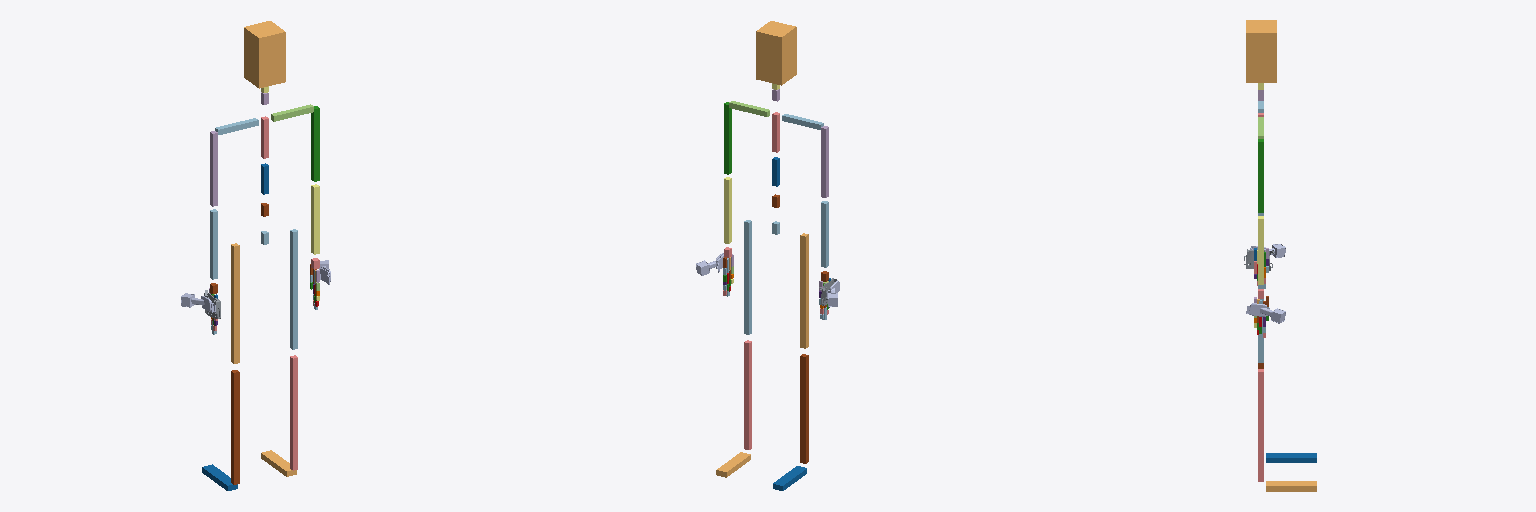
--- What the picture shows (computed from the rendered views, not written in the file) ---
3 views of the same robot in one strip: view 1: azimuth 30°, elevation 25°; view 2: azimuth 150°, elevation 25°; view 3: azimuth 270°, elevation 25° (orthographic).
Robot: converted — 235 links, 234 joints (218 revolute, 16 fixed); root link base_link; default pose: all joints at 0.
Visible links, largest first — view 1: link_Head_Y, link_LeftUpLeg_Y, link_LeftLeg_Y, link_RightUpLeg_Y, link_RightLeg_Y, link_RightArm_Y, link_RightForeArm_Y, link_LeftArm_Y, link_LeftForeArm_Y; view 2: link_Head_Y, link_LeftUpLeg_Y, link_LeftLeg_Y, link_RightUpLeg_Y, link_RightLeg_Y, link_LeftArm_Y, link_RightArm_Y, link_RightForeArm_Y, link_LeftForeArm_Y; view 3: link_Head_Y, link_RightLeg_Y, link_RightFoot_Y.
Link boxes in pixels (bbox=[...]): link_Head_Y: bbox=[244, 21, 285, 88]; link_LeftUpLeg_Y: bbox=[231, 243, 239, 363]; link_LeftLeg_Y: bbox=[231, 370, 239, 484]; link_RightUpLeg_Y: bbox=[290, 229, 297, 349]; link_RightLeg_Y: bbox=[290, 355, 297, 470]; link_RightArm_Y: bbox=[311, 106, 319, 181]; link_RightForeArm_Y: bbox=[311, 184, 319, 254]; link_LeftArm_Y: bbox=[210, 131, 217, 206]; link_LeftForeArm_Y: bbox=[210, 209, 217, 279]; link_Head_Y: bbox=[756, 21, 796, 85]; link_LeftUpLeg_Y: bbox=[800, 233, 808, 348]; link_LeftLeg_Y: bbox=[800, 354, 808, 463]; link_RightUpLeg_Y: bbox=[744, 220, 751, 334]; link_RightLeg_Y: bbox=[744, 340, 751, 449]; link_LeftArm_Y: bbox=[821, 126, 828, 197]; link_RightArm_Y: bbox=[724, 102, 731, 174]; link_RightForeArm_Y: bbox=[724, 177, 731, 243]; link_LeftForeArm_Y: bbox=[821, 201, 828, 267]; link_Head_Y: bbox=[1246, 20, 1276, 82]; link_RightLeg_Y: bbox=[1258, 369, 1263, 481]; link_RightFoot_Y: bbox=[1266, 481, 1316, 491].
Size in the robot's own frame: 0.554 by 0.2402 by 1.63 metres.
Meshes: 44 distinct files referenced, 3 mesh visuals loaded (3 binary STL); not drawn: 41 (reference not matched to a file when rendering).

robot.urdf — converted:
<?xml version='1.0' encoding='utf-8'?>
<robot name="converted">
    
    <link name="base_link" />
    <link name="link_Hips_R" />
    <link name="link_Hips_P" />
    <link name="link_Hips_Y">
        <inertia ixx="1.0" ixy="0.0" ixz="0.0" iyy="1.0" iyz="0.0" izz="1.0" />
        <mass value="5.000000" />
        <visual>
            <origin rpy="0 0 0" xyz="0 0 0" />
            <geometry>
                <box size="0.02 0.02 0.04" />
            </geometry>
            <material name="mat_col_(0.6509803921568628, 0.807843137254902, 0.8901960784313725)">
                <color rgba="0.65 0.81 0.89 1.0" />
            </material>
        </visual>
    </link>
    <link name="link_RightUpLeg_R" />
    <link name="link_RightUpLeg_P" />
    <link name="link_RightUpLeg_Y">
        <inertia ixx="1.0" ixy="0.0" ixz="0.0" iyy="1.0" iyz="0.0" izz="1.0" />
        <mass value="5.000000" />
        <visual>
            <origin rpy="0 0 0" xyz="0 0 -0.21" />
            <geometry>
                <box size="0.02 0.02 0.42" />
            </geometry>
            <material name="mat_col_(0.6509803921568628, 0.807843137254902, 0.8901960784313725)">
                <color rgba="0.65 0.81 0.89 1.0" />
            </material>
        </visual>
    </link>
    <link name="link_RightLeg_R" />
    <link name="link_RightLeg_P" />
    <link name="link_RightLeg_Y">
        <inertia ixx="1.0" ixy="0.0" ixz="0.0" iyy="1.0" iyz="0.0" izz="1.0" />
        <mass value="5.000000" />
        <visual>
            <origin rpy="0 0 0" xyz="0 0 -0.2" />
            <geometry>
                <box size="0.02 0.02 0.4" />
            </geometry>
            <material name="mat_col_(0.984313725490196, 0.6039215686274509, 0.6)">
                <color rgba="0.98 0.60 0.60 1.0" />
            </material>
        </visual>
    </link>
    <link name="link_RightFoot_R" />
    <link name="link_RightFoot_P" />
    <link name="link_RightFoot_Y">
        <inertia ixx="1.0" ixy="0.0" ixz="0.0" iyy="1.0" iyz="0.0" izz="1.0" />
        <mass value="5.000000" />
        <visual>
            <origin rpy="0 0 0" xyz="0 0.0978897124528885 0" />
            <geometry>
                <box size="0.04 0.16677506566047667 0.02" />
            </geometry>
            <material name="mat_col_(0.9921568627450981, 0.7490196078431373, 0.43529411764705883)">
                <color rgba="0.99 0.75 0.44 1.0" />
            </material>
        </visual>
    </link>
    <link name="link_LeftUpLeg_R" />
    <link name="link_LeftUpLeg_P" />
    <link name="link_LeftUpLeg_Y">
        <inertia ixx="1.0" ixy="0.0" ixz="0.0" iyy="1.0" iyz="0.0" izz="1.0" />
        <mass value="5.000000" />
        <visual>
            <origin rpy="0 0 0" xyz="0 0 -0.21" />
            <geometry>
                <box size="0.02 0.02 0.42" />
            </geometry>
            <material name="mat_col_(0.9921568627450981, 0.7490196078431373, 0.43529411764705883)">
                <color rgba="0.99 0.75 0.44 1.0" />
            </material>
        </visual>
    </link>
    <link name="link_LeftLeg_R" />
    <link name="link_LeftLeg_P" />
    <link name="link_LeftLeg_Y">
        <inertia ixx="1.0" ixy="0.0" ixz="0.0" iyy="1.0" iyz="0.0" izz="1.0" />
        <mass value="5.000000" />
        <visual>
            <origin rpy="0 0 0" xyz="0 0 -0.2" />
            <geometry>
                <box size="0.02 0.02 0.4" />
            </geometry>
            <material name="mat_col_(0.6941176470588235, 0.34901960784313724, 0.1568627450980392)">
                <color rgba="0.69 0.35 0.16 1.0" />
            </material>
        </visual>
    </link>
    <link name="link_LeftFoot_R" />
    <link name="link_LeftFoot_P" />
    <link name="link_LeftFoot_Y">
        <inertia ixx="1.0" ixy="0.0" ixz="0.0" iyy="1.0" iyz="0.0" izz="1.0" />
        <mass value="5.000000" />
        <visual>
            <origin rpy="0 0 0" xyz="0 0.0978897124528885 0" />
            <geometry>
                <box size="0.04 0.16677506566047667 0.02" />
            </geometry>
            <material name="mat_col_(0.12156862745098039, 0.47058823529411764, 0.7058823529411765)">
                <color rgba="0.12 0.47 0.71 1.0" />
            </material>
        </visual>
    </link>
    <link name="link_Spine_R" />
    <link name="link_Spine_P" />
    <link name="link_Spine_Y">
        <inertia ixx="1.0" ixy="0.0" ixz="0.0" iyy="1.0" iyz="0.0" izz="1.0" />
        <mass value="5.000000" />
        <visual>
            <origin rpy="0 0 0" xyz="0 0 0.02" />
            <geometry>
                <box size="0.02 0.02 0.04" />
            </geometry>
            <material name="mat_col_(0.6941176470588235, 0.34901960784313724, 0.1568627450980392)">
                <color rgba="0.69 0.35 0.16 1.0" />
            </material>
        </visual>
    </link>
    <link name="link_Spine1_R" />
    <link name="link_Spine1_P" />
    <link name="link_Spine1_Y">
        <inertia ixx="1.0" ixy="0.0" ixz="0.0" iyy="1.0" iyz="0.0" izz="1.0" />
        <mass value="5.000000" />
        <visual>
            <origin rpy="0 0 0" xyz="0 0 0.05" />
            <geometry>
                <box size="0.02 0.02 0.10" />
            </geometry>
            <material name="mat_col_(0.12156862745098039, 0.47058823529411764, 0.7058823529411765)">
                <color rgba="0.12 0.47 0.71 1.0" />
            </material>
        </visual>
    </link>
    <link name="link_Spine2_R" />
    <link name="link_Spine2_P" />
    <link name="link_Spine2_Y">
        <inertia ixx="1.0" ixy="0.0" ixz="0.0" iyy="1.0" iyz="0.0" izz="1.0" />
        <mass value="5.000000" />
        <visual>
            <origin rpy="0 0 0" xyz="0 0 0.07" />
            <geometry>
                <box size="0.02 0.02 0.14" />
            </geometry>
            <material name="mat_col_(0.984313725490196, 0.6039215686274509, 0.6)">
                <color rgba="0.98 0.60 0.60 1.0" />
            </material>
        </visual>
    </link>
    <link name="link_Neck_R" />
    <link name="link_Neck_P" />
    <link name="link_Neck_Y">
        <inertia ixx="1.0" ixy="0.0" ixz="0.0" iyy="1.0" iyz="0.0" izz="1.0" />
        <mass value="5.000000" />
        <visual>
            <origin rpy="0 0 0" xyz="0 0 0.02" />
            <geometry>
                <box size="0.02 0.02 0.04" />
            </geometry>
            <material name="mat_col_(0.792156862745098, 0.6980392156862745, 0.8392156862745098)">
                <color rgba="0.79 0.70 0.84 1.0" />
            </material>
        </visual>
    </link>
    <link name="link_Neck1_R" />
    <link name="link_Neck1_P" />
    <link name="link_Neck1_Y">
        <inertia ixx="1.0" ixy="0.0" ixz="0.0" iyy="1.0" iyz="0.0" izz="1.0" />
        <mass value="5.000000" />
        <visual>
            <origin rpy="0 0 0" xyz="0 0 0.02" />
            <geometry>
                <box size="0.02 0.02 0.04" />
            </geometry>
            <material name="mat_col_(1.0, 1.0, 0.6)">
                <color rgba="1.00 1.00 0.60 1.0" />
            </material>
        </visual>
    </link>
    <link name="link_Head_R" />
    <link name="link_Head_P" />
    <link name="link_Head_Y">
        <inertia ixx="1.0" ixy="0.0" ixz="0.0" iyy="1.0" iyz="0.0" izz="1.0" />
        <mass value="5.000000" />
        <visual>
            <origin rpy="0 0 0" xyz="0 0 0.09" />
            <geometry>
                <box size="0.10 0.10 0.18" />
            </geometry>
            <material name="mat_col_(0.9921568627450981, 0.7490196078431373, 0.43529411764705883)">
                <color rgba="0.99 0.75 0.44 1.0" />
            </material>
        </visual>
    </link>
    <link name="link_RightShoulder_R" />
    <link name="link_RightShoulder_P" />
    <link name="link_RightShoulder_Y">
        <inertia ixx="1.0" ixy="0.0" ixz="0.0" iyy="1.0" iyz="0.0" izz="1.0" />
        <mass value="5.000000" />
        <visual>
            <origin rpy="0 0 0" xyz="0.075 0  0" />
            <geometry>
                <box size="0.15 0.02 0.02" />
            </geometry>
            <material name="mat_col_(0.6980392156862745, 0.8745098039215686, 0.5411764705882353)">
                <color rgba="0.70 0.87 0.54 1.0" />
            </material>
        </visual>
    </link>
    <link name="link_RightArm_R" />
    <link name="link_RightArm_P" />
    <link name="link_RightArm_Y">
        <inertia ixx="1.0" ixy="0.0" ixz="0.0" iyy="1.0" iyz="0.0" izz="1.0" />
        <mass value="5.000000" />
        <visual>
            <origin rpy="0 0 0" xyz="0 0 -0.13" />
            <geometry>
                <box size="0.02 0.02 0.26" />
            </geometry>
            <material name="mat_col_(0.2, 0.6274509803921569, 0.17254901960784313)">
                <color rgba="0.20 0.63 0.17 1.0" />
            </material>
        </visual>
    </link>
    <link name="link_RightForeArm_R" />
    <link name="link_RightForeArm_P" />
    <link name="link_RightForeArm_Y">
        <inertia ixx="1.0" ixy="0.0" ixz="0.0" iyy="1.0" iyz="0.0" izz="1.0" />
        <mass value="5.000000" />
        <visual>
            <origin rpy="0 0 0" xyz="0 0 -0.12" />
            <geometry>
                <box size="0.02 0.02 0.24" />
            </geometry>
            <material name="mat_col_(1.0, 1.0, 0.6)">
                <color rgba="1.00 1.00 0.60 1.0" />
            </material>
        </visual>
    </link>
    <link name="link_RightHand_R" />
    <link name="link_RightHand_P" />
    <link name="link_RightHand_Y">
        <inertia ixx="1.0" ixy="0.0" ixz="0.0" iyy="1.0" iyz="0.0" izz="1.0" />
        <mass value="5.000000" />
        <visual>
            <origin rpy="0 0 0" xyz="0 0 -0.017634012177586554" />
            <geometry>
                <box size="0.02 0.02 0.030043131858110427" />
            </geometry>
            <material name="mat_col_(0.984313725490196, 0.6039215686274509, 0.6)">
                <color rgba="0.98 0.60 0.60 1.0" />
            </material>
        </visual>
    </link>
    <link name="link_RightHandThumb1_R" />
    <link name="link_RightHandThumb1_P" />
    <link name="link_RightHandThumb1_Y">
        <inertia ixx="1.0" ixy="0.0" ixz="0.0" iyy="1.0" iyz="0.0" izz="1.0" />
        <mass value="5.000000" />
        <visual>
            <origin rpy="0 0 0" xyz="0 0 -0.02090881034731865" />
            <geometry>
                <box size="0.01 0.01 0.035622417628765106" />
            </geometry>
            <material name="mat_col_(0.6941176470588235, 0.34901960784313724, 0.1568627450980392)">
                <color rgba="0.69 0.35 0.16 1.0" />
            </material>
        </visual>
    </link>
    <link name="link_RightHandThumb2_R" />
    <link name="link_RightHandThumb2_P" />
    <link name="link_RightHandThumb2_Y">
        <inertia ixx="1.0" ixy="0.0" ixz="0.0" iyy="1.0" iyz="0.0" izz="1.0" />
        <mass value="5.000000" />
        <visual>
            <origin rpy="0 0 0" xyz="0 0 -0.014525998458266258" />
            <geometry>
                <box size="0.01 0.01 0.024747997373342514" />
            </geometry>
            <material name="mat_col_(0.6509803921568628, 0.807843137254902, 0.8901960784313725)">
                <color rgba="0.65 0.81 0.89 1.0" />
            </material>
        </visual>
    </link>
    <link name="link_RightHandThumb3_R" />
    <link name="link_RightHandThumb3_P" />
    <link name="link_RightHandThumb3_Y">
        <inertia ixx="1.0" ixy="0.0" ixz="0.0" iyy="1.0" iyz="0.0" izz="1.0" />
        <mass value="5.000000" />
        <visual>
            <origin rpy="0 0 0" xyz="0 0 -0.013699802979826927" />
            <geometry>
                <box size="0.01 0.01 0.023340405076742173" />
            </geometry>
            <material name="mat_col_(0.2, 0.6274509803921569, 0.17254901960784313)">
                <color rgba="0.20 0.63 0.17 1.0" />
            </material>
        </visual>
    </link>
    <link name="link_RightInHandIndex_R" />
    <link name="link_RightInHandIndex_P" />
    <link name="link_RightInHandIndex_Y">
        <inertia ixx="1.0" ixy="0.0" ixz="0.0" iyy="1.0" iyz="0.0" izz="1.0" />
        <mass value="5.000000" />
        <visual>
            <origin rpy="0 0 0" xyz="0 0 -0.030162290632724763" />
            <geometry>
                <box size="0.01 0.01 0.051387606263160704" />
            </geometry>
            <material name="mat_col_(0.6941176470588235, 0.34901960784313724, 0.1568627450980392)">
                <color rgba="0.69 0.35 0.16 1.0" />
            </material>
        </visual>
    </link>
    <link name="link_RightHandIndex1_R" />
    <link name="link_RightHandIndex1_P" />
    <link name="link_RightHandIndex1_Y">
        <inertia ixx="1.0" ixy="0.0" ixz="0.0" iyy="1.0" iyz="0.0" izz="1.0" />
        <mass value="5.000000" />
        <visual>
            <origin rpy="0 0 0" xyz="0 0 -0.020552407130599023" />
            <geometry>
                <box size="0.01 0.01 0.03501521214842796" />
            </geometry>
            <material name="mat_col_(0.41568627450980394, 0.23921568627450981, 0.6039215686274509)">
                <color rgba="0.42 0.24 0.60 1.0" />
            </material>
        </visual>
    </link>
    <link name="link_RightHandIndex2_R" />
    <link name="link_RightHandIndex2_P" />
    <link name="link_RightHandIndex2_Y">
        <inertia ixx="1.0" ixy="0.0" ixz="0.0" iyy="1.0" iyz="0.0" izz="1.0" />
        <mass value="5.000000" />
        <visual>
            <origin rpy="0 0 0" xyz="0 0 -0.011653190664947032" />
            <geometry>
                <box size="0.01 0.01 0.019853584095835687" />
            </geometry>
            <material name="mat_col_(0.6509803921568628, 0.807843137254902, 0.8901960784313725)">
                <color rgba="0.65 0.81 0.89 1.0" />
            </material>
        </visual>
    </link>
    <link name="link_RightHandIndex3_R" />
    <link name="link_RightHandIndex3_P" />
    <link name="link_RightHandIndex3_Y">
        <inertia ixx="1.0" ixy="0.0" ixz="0.0" iyy="1.0" iyz="0.0" izz="1.0" />
        <mass value="5.000000" />
        <visual>
            <origin rpy="0 0 0" xyz="0 0 -0.010249215178191662" />
            <geometry>
                <box size="0.01 0.01 0.01746162585914135" />
            </geometry>
            <material name="mat_col_(0.984313725490196, 0.6039215686274509, 0.6)">
                <color rgba="0.98 0.60 0.60 1.0" />
            </material>
        </visual>
    </link>
    <link name="link_RightInHandMiddle_R" />
    <link name="link_RightInHandMiddle_P" />
    <link name="link_RightInHandMiddle_Y">
        <inertia ixx="1.0" ixy="0.0" ixz="0.0" iyy="1.0" iyz="0.0" izz="1.0" />
        <mass value="5.000000" />
        <visual>
            <origin rpy="0 0 0" xyz="0 0 -0.02943922273814678" />
            <geometry>
                <box size="0.01 0.01 0.050155712813138964" />
            </geometry>
            <material name="mat_col_(0.6509803921568628, 0.807843137254902, 0.8901960784313725)">
                <color rgba="0.65 0.81 0.89 1.0" />
            </material>
        </visual>
    </link>
    <link name="link_RightHandMiddle1_R" />
    <link name="link_RightHandMiddle1_P" />
    <link name="link_RightHandMiddle1_Y">
        <inertia ixx="1.0" ixy="0.0" ixz="0.0" iyy="1.0" iyz="0.0" izz="1.0" />
        <mass value="5.000000" />
        <visual>
            <origin rpy="0 0 0" xyz="0 0 -0.022426203042268753" />
            <geometry>
                <box size="0.01 0.01 0.03820760518312454" />
            </geometry>
            <material name="mat_col_(0.8901960784313725, 0.10196078431372549, 0.10980392156862745)">
                <color rgba="0.89 0.10 0.11 1.0" />
            </material>
        </visual>
    </link>
    <link name="link_RightHandMiddle2_R" />
    <link name="link_RightHandMiddle2_P" />
    <link name="link_RightHandMiddle2_Y">
        <inertia ixx="1.0" ixy="0.0" ixz="0.0" iyy="1.0" iyz="0.0" izz="1.0" />
        <mass value="5.000000" />
        <visual>
            <origin rpy="0 0 0" xyz="0 0 -0.014056202173233032" />
            <geometry>
                <box size="0.01 0.01 0.023947603702545166" />
            </geometry>
            <material name="mat_col_(0.2, 0.6274509803921569, 0.17254901960784313)">
                <color rgba="0.20 0.63 0.17 1.0" />
            </material>
        </visual>
    </link>
    <link name="link_RightHandMiddle3_R" />
    <link name="link_RightHandMiddle3_P" />
    <link name="link_RightHandMiddle3_Y">
        <inertia ixx="1.0" ixy="0.0" ixz="0.0" iyy="1.0" iyz="0.0" izz="1.0" />
        <mass value="5.000000" />
        <visual>
            <origin rpy="0 0 0" xyz="0 0 -0.011210399866104125" />
            <geometry>
                <box size="0.01 0.01 0.019099199771881105" />
            </geometry>
            <material name="mat_col_(0.6509803921568628, 0.807843137254902, 0.8901960784313725)">
                <color rgba="0.65 0.81 0.89 1.0" />
            </material>
        </visual>
    </link>
    <link name="link_RightInHandRing_R" />
    <link name="link_RightInHandRing_P" />
    <link name="link_RightInHandRing_Y">
        <inertia ixx="1.0" ixy="0.0" ixz="0.0" iyy="1.0" iyz="0.0" izz="1.0" />
        <mass value="5.000000" />
        <visual>
            <origin rpy="0 0 0" xyz="0 0 -0.026454875618219374" />
            <geometry>
                <box size="0.01 0.01 0.04507126957178116" />
            </geometry>
            <material name="mat_col_(0.9921568627450981, 0.7490196078431373, 0.43529411764705883)">
                <color rgba="0.99 0.75 0.44 1.0" />
            </material>
        </visual>
    </link>
    <link name="link_RightHandRing1_R" />
    <link name="link_RightHandRing1_P" />
    <link name="link_RightHandRing1_Y">
        <inertia ixx="1.0" ixy="0.0" ixz="0.0" iyy="1.0" iyz="0.0" izz="1.0" />
        <mass value="5.000000" />
        <visual>
            <origin rpy="0 0 0" xyz="0 0 -0.019542589634656906" />
            <geometry>
                <box size="0.01 0.01 0.03329478234052658" />
            </geometry>
            <material name="mat_col_(0.6941176470588235, 0.34901960784313724, 0.1568627450980392)">
                <color rgba="0.69 0.35 0.16 1.0" />
            </material>
        </visual>
    </link>
    <link name="link_RightHandRing2_R" />
    <link name="link_RightHandRing2_P" />
    <link name="link_RightHandRing2_Y">
        <inertia ixx="1.0" ixy="0.0" ixz="0.0" iyy="1.0" iyz="0.0" izz="1.0" />
        <mass value="5.000000" />
        <visual>
            <origin rpy="0 0 0" xyz="0 0 -0.01355940341949463" />
            <geometry>
                <box size="0.01 0.01 0.023101205825805663" />
            </geometry>
            <material name="mat_col_(0.2, 0.6274509803921569, 0.17254901960784313)">
                <color rgba="0.20 0.63 0.17 1.0" />
            </material>
        </visual>
    </link>
    <link name="link_RightHandRing3_R" />
    <link name="link_RightHandRing3_P" />
    <link name="link_RightHandRing3_Y">
        <inertia ixx="1.0" ixy="0.0" ixz="0.0" iyy="1.0" iyz="0.0" izz="1.0" />
        <mass value="5.000000" />
        <visual>
            <origin rpy="0 0 0" xyz="0 0 -0.010540791749954224" />
            <geometry>
                <box size="0.01 0.01 0.017958385944366453" />
            </geometry>
            <material name="mat_col_(0.8901960784313725, 0.10196078431372549, 0.10980392156862745)">
                <color rgba="0.89 0.10 0.11 1.0" />
            </material>
        </visual>
    </link>
    <link name="link_RightInHandPinky_R" />
    <link name="link_RightInHandPinky_P" />
    <link name="link_RightInHandPinky_Y">
        <inertia ixx="1.0" ixy="0.0" ixz="0.0" iyy="1.0" iyz="0.0" izz="1.0" />
        <mass value="5.000000" />
        <visual>
            <origin rpy="0 0 0" xyz="0 0 -0.024314074516296386" />
            <geometry>
                <box size="0.01 0.01 0.041423978805541994" />
            </geometry>
            <material name="mat_col_(0.792156862745098, 0.6980392156862745, 0.8392156862745098)">
                <color rgba="0.79 0.70 0.84 1.0" />
            </material>
        </visual>
    </link>
    <link name="link_RightHandPinky1_R" />
    <link name="link_RightHandPinky1_P" />
    <link name="link_RightHandPinky1_Y">
        <inertia ixx="1.0" ixy="0.0" ixz="0.0" iyy="1.0" iyz="0.0" izz="1.0" />
        <mass value="5.000000" />
        <visual>
            <origin rpy="0 0 0" xyz="0 0 -0.015649211034178732" />
            <geometry>
                <box size="0.01 0.01 0.026661618798971175" />
            </geometry>
            <material name="mat_col_(0.6980392156862745, 0.8745098039215686, 0.5411764705882353)">
                <color rgba="0.70 0.87 0.54 1.0" />
            </material>
        </visual>
    </link>
    <link name="link_RightHandPinky2_R" />
    <link name="link_RightHandPinky2_P" />
    <link name="link_RightHandPinky2_Y">
        <inertia ixx="1.0" ixy="0.0" ixz="0.0" iyy="1.0" iyz="0.0" izz="1.0" />
        <mass value="5.000000" />
        <visual>
            <origin rpy="0 0 0" xyz="0 0 -0.009887406639754771" />
            <geometry>
                <box size="0.01 0.01 0.0168452113121748" />
            </geometry>
            <material name="mat_col_(1.0, 0.4980392156862745, 0.0)">
                <color rgba="1.00 0.50 0.00 1.0" />
            </material>
        </visual>
    </link>
    <link name="link_RightHandPinky3_R" />
    <link name="link_RightHandPinky3_P" />
    <link name="link_RightHandPinky3_Y">
        <inertia ixx="1.0" ixy="0.0" ixz="0.0" iyy="1.0" iyz="0.0" izz="1.0" />
        <mass value="5.000000" />
        <visual>
            <origin rpy="0 0 0" xyz="0 0 -0.009342006258666515" />
            <geometry>
                <box size="0.01 0.01 0.015916010662913323" />
            </geometry>
            <material name="mat_col_(1.0, 1.0, 0.6)">
                <color rgba="1.00 1.00 0.60 1.0" />
            </material>
        </visual>
    </link>
    
    <link name="link_RightMarker">
        <visual>
        <origin xyz="0 0 0" rpy="0 0 0" />
        <geometry>
            <mesh filename="package://io_mocap/description/meshes/R_markseat.STL" />
        </geometry>
        <material name="">
            <color rgba="0.792156862745098 0.819607843137255 0.933333333333333 1" />
        </material>
        </visual>
        <collision>
        <origin xyz="0 0 0" rpy="0 0 0" />
        <geometry>
            <mesh filename="package://io_mocap/description/meshes/R_markseat.STL" />
        </geometry>
        </collision>
    <inertial>
      <origin xyz="0.00294203633534093 1.0876564371376E-09 -0.00737738070930406" rpy="0 0 0" />
      <mass value="0.0154177032704756" />
      <inertia ixx="5.71644078153603E-06" ixy="-1.51036310359394E-12" ixz="3.68081022115817E-08" iyy="2.68588112925329E-06" iyz="3.37822884683315E-14" izz="8.26174791000107E-06" />
    </inertial>
    </link>
    <link name="link_RightSkeletonBase">
        <visual>
        <origin xyz="0 0 0" rpy="0 0 0" />
        <geometry>
            <mesh filename="package://io_mocap/description/meshes/r_base_link.STL" />
        </geometry>
        <material name="">
            <color rgba="0.866666666666667 0.866666666666667 0.890196078431372 1" />
        </material>
        </visual>
        <collision>
        <origin xyz="0 0 0" rpy="0 0 0" />
        <geometry>
            <mesh filename="package://io_mocap/description/meshes/r_base_link.STL" />
        </geometry>
        </collision>
    <inertial>
      <origin xyz="0.00216797571237468 -0.022366204645948 -0.0107724196092734" rpy="0 0 0" />
      <mass value="0.0758042486131713" />
      <inertia ixx="3.23125693144823E-05" ixy="-1.31540196511596E-05" ixz="-4.94003552692791E-06" iyy="5.16119830038236E-05" iyz="-4.68797910919802E-06" izz="7.78219432147555E-05" />
    </inertial>
    </link>
    <link name="link_RightSkeletonThumb1">
        <visual>
        <origin xyz="0 0 0" rpy="0 0 0" />
        <geometry>
            <mesh filename="package://io_mocap/description/meshes/r_figer1_1.STL" />
        </geometry>
        <material name="">
            <color rgba="0.866666666666667 0.866666666666667 0.890196078431372 1" />
        </material>
        </visual>
        <collision>
        <origin xyz="0 0 0" rpy="0 0 0" />
        <geometry>
            <mesh filename="package://io_mocap/description/meshes/r_figer1_1.STL" />
        </geometry>
        </collision>
    <inertial>
      <origin xyz="-3.08137699575189E-05 0.00155958987698494 0.0046232516867187" rpy="0 0 0" />
      <mass value="0.00178187238326557" />
      <inertia ixx="1.03584311739983E-07" ixy="-5.01361101967607E-10" ixz="-1.21200232189209E-10" iyy="8.49153643127529E-08" iyz="-2.36939083495156E-08" izz="3.91673232386827E-08" />
    </inertial>
    </link>
    <link name="link_RightSkeletonThumb2">
        <visual>
        <origin xyz="0 0 0" rpy="0 0 0" />
        <geometry>
            <mesh filename="package://io_mocap/description/meshes/r_figer1_2.STL" />
        </geometry>
        <material name="">
            <color rgba="0.866666666666667 0.866666666666667 0.890196078431372 1" />
        </material>
        </visual>
        <collision>
        <origin xyz="0 0 0" rpy="0 0 0" />
        <geometry>
            <mesh filename="package://io_mocap/description/meshes/r_figer1_2.STL" />
        </geometry>
        </collision>
    <inertial>
      <origin xyz="-0.0019500541405295 0.011276259608143 0.0266177464261868" rpy="0 0 0" />
      <mass value="0.00637018046657644" />
      <inertia ixx="2.00538384225126E-06" ixy="7.45002633580976E-09" ixz="1.0946743669178E-08" iyy="1.23040434627638E-06" iyz="-8.84996904032171E-07" izz="8.30631590733538E-07" />
    </inertial>
    </link>
    <link name="link_RightSkeletonThumb3">
        <visual>
        <origin xyz="0 0 0" rpy="0 0 0" />
        <geometry>
            <mesh filename="package://io_mocap/description/meshes/r_figer1_3.STL" />
        </geometry>
        <material name="">
            <color rgba="0.866666666666667 0.866666666666667 0.890196078431372 1" />
        </material>
        </visual>
        <collision>
        <origin xyz="0 0 0" rpy="0 0 0" />
        <geometry>
            <mesh filename="package://io_mocap/description/meshes/r_figer1_3.STL" />
        </geometry>
        </collision>
    <inertial>
      <origin xyz="-0.00206695076515113 0.00595466267902331 0.0396191242055763" rpy="0 0 0" />
      <mass value="0.0161754304135971" />
      <inertia ixx="8.01537071097358E-06" ixy="1.14969861774628E-08" ixz="2.95210053758246E-08" iyy="6.71271011825662E-06" iyz="-2.16683563700016E-06" izz="1.45683814017061E-06" />
    </inertial>
    </link>
    <link name="link_RightSkeletonThumb4">
        <visual>
        <origin xyz="0 0 0" rpy="0 0 0" />
        <geometry>
            <mesh filename="package://io_mocap/description/meshes/r_figer1_4.STL" />
        </geometry>
        <material name="">
            <color rgba="0.866666666666667 0.866666666666667 0.890196078431372 1" />
        </material>
        </visual>
        <collision>
        <origin xyz="0 0 0" rpy="0 0 0" />
        <geometry>
            <mesh filename="package://io_mocap/description/meshes/r_figer1_4.STL" />
        </geometry>
        </collision>
    <inertial>
      <origin xyz="-0.00202068463197846 1.57883169038531E-09 -0.00321296829789386" rpy="0 0 0" />
      <mass value="0.00170717954331925" />
      <inertia ixx="3.1071188241451E-08" ixy="1.08851784987063E-13" ixz="-1.57311055199744E-09" iyy="3.05127320732305E-08" iyz="5.51613855937477E-15" izz="3.29729277393096E-08" />
    </inertial>
    </link>
    <link name="link_RightSkeletonIndex1">
        <visual>
        <origin xyz="0 0 0" rpy="0 0 0" />
        <geometry>
            <mesh filename="package://io_mocap/description/meshes/r_figer2_1.STL" />
        </geometry>
        <material name="">
            <color rgba="0.866666666666667 0.866666666666667 0.890196078431372 1" />
        </material>
        </visual>
        <collision>
        <origin xyz="0 0 0" rpy="0 0 0" />
        <geometry>
            <mesh filename="package://io_mocap/description/meshes/r_figer2_1.STL" />
        </geometry>
        </collision>
    <inertial>
      <origin xyz="-3.08137699578659E-05 0.00155958987698486 0.00462325168671867" rpy="0 0 0" />
      <mass value="0.00178187238326556" />
      <inertia ixx="1.03584311739983E-07" ixy="-5.01361101967614E-10" ixz="-1.21200232189246E-10" iyy="8.49153643127528E-08" iyz="-2.36939083495156E-08" izz="3.91673232386827E-08" />
    </inertial>
    </link>
    <link name="link_RightSkeletonIndex2">
        <visual>
        <origin xyz="0 0 0" rpy="0 0 0" />
        <geometry>
            <mesh filename="package://io_mocap/description/meshes/r_figer2_2.STL" />
        </geometry>
        <material name="">
            <color rgba="0.866666666666667 0.866666666666667 0.890196078431372 1" />
        </material>
        </visual>
        <collision>
        <origin xyz="0 0 0" rpy="0 0 0" />
        <geometry>
            <mesh filename="package://io_mocap/description/meshes/r_figer2_2.STL" />
        </geometry>
        </collision>
    <inertial>
      <origin xyz="-0.00195143791803559 0.0149259451735643 0.0306904661223931" rpy="0 0 0" />
      <mass value="0.00736551851481073" />
      <inertia ixx="3.20023827686467E-06" ixy="9.24466025134963E-09" ixz="1.26143115807105E-08" iyy="1.85454238372297E-06" iyz="-1.47246699804249E-06" izz="1.41056096627149E-06" />
    </inertial>
    </link>
    <link name="link_RightSkeletonIndex3">
        <visual>
        <origin xyz="0 0 0" rpy="0 0 0" />
        <geometry>
            <mesh filename="package://io_mocap/description/meshes/r_figer2_3.STL" />
        </geometry>
        <material name="">
            <color rgba="0.866666666666667 0.866666666666667 0.890196078431372 1" />
        </material>
        </visual>
        <collision>
        <origin xyz="0 0 0" rpy="0 0 0" />
        <geometry>
            <mesh filename="package://io_mocap/description/meshes/r_figer2_3.STL" />
        </geometry>
        </collision>
    <inertial>
      <origin xyz="-0.0020669507651517 0.00595466267902342 0.0396191242055763" rpy="0 0 0" />
      <mass value="0.0161754304135971" />
      <inertia ixx="8.01537071097358E-06" ixy="1.14969861774632E-08" ixz="2.95210053758246E-08" iyy="6.71271011825661E-06" iyz="-2.16683563700017E-06" izz="1.45683814017062E-06" />
    </inertial>
    </link>
    <link name="link_RightSkeletonIndex4">
        <visual>
        <origin xyz="0 0 0" rpy="0 0 0" />
        <geometry>
            <mesh filename="package://io_mocap/description/meshes/r_figer2_4.STL" />
        </geometry>
        <material name="">
            <color rgba="0.866666666666667 0.866666666666667 0.890196078431372 1" />
        </material>
        </visual>
        <collision>
        <origin xyz="0 0 0" rpy="0 0 0" />
        <geometry>
            <mesh filename="package://io_mocap/description/meshes/r_figer2_4.STL" />
        </geometry>
        </collision>
    <inertial>
      <origin xyz="-0.0020206853049512 3.52910714540577E-09 -0.00321297101101677" rpy="0 0 0" />
      <mass value="0.00170718109055902" />
      <inertia ixx="3.10712079116187E-08" ixy="1.17506534361458E-13" ixz="-1.57312136216542E-09" iyy="3.0512729352685E-08" iyz="1.28232339776163E-14" izz="3.29729392782309E-08" />
    </inertial>
    </link>
    <link name="link_RightSkeletonMiddle1">
        <visual>
        <origin xyz="0 0 0" rpy="0 0 0" />
        <geometry>
            <mesh filename="package://io_mocap/description/meshes/r_figer3_1.STL" />
        </geometry>
        <material name="">
            <color rgba="0.866666666666667 0.866666666666667 0.890196078431372 1" />
        </material>
        </visual>
        <collision>
        <origin xyz="0 0 0" rpy="0 0 0" />
        <geometry>
            <mesh filename="package://io_mocap/description/meshes/r_figer3_1.STL" />
        </geometry>
        </collision>
    <inertial>
      <origin xyz="-3.08137699578104E-05 0.00155958987698486 0.00462325168671869" rpy="0 0 0" />
      <mass value="0.00178187238326557" />
      <inertia ixx="1.03584311739984E-07" ixy="-5.01361101967615E-10" ixz="-1.21200232189249E-10" iyy="8.49153643127532E-08" iyz="-2.36939083495157E-08" izz="3.91673232386829E-08" />
    </inertial>
    </link>
    <link name="link_RightSkeletonMiddle2">
        <visual>
        <origin xyz="0 0 0" rpy="0 0 0" />
        <geometry>
            <mesh filename="package://io_mocap/description/meshes/r_figer3_2.STL" />
        </geometry>
        <material name="">
            <color rgba="0.615686274509804 0.643137254901961 0.674509803921569 1" />
        </material>
        </visual>
        <collision>
        <origin xyz="0 0 0" rpy="0 0 0" />
        <geometry>
            <mesh filename="package://io_mocap/description/meshes/r_figer3_2.STL" />
        </geometry>
        </collision>
    <inertial>
      <origin xyz="-0.00195143791803562 0.0149259451735643 0.0306904661223931" rpy="0 0 0" />
      <mass value="0.00736551851481074" />
      <inertia ixx="3.20023827686469E-06" ixy="9.24466025134937E-09" ixz="1.26143115807101E-08" iyy="1.85454238372298E-06" iyz="-1.47246699804249E-06" izz="1.4105609662715E-06" />
    </inertial>
    </link>
    <link name="link_RightSkeletonMiddle3">
        <visual>
        <origin xyz="0 0 0" rpy="0 0 0" />
        <geometry>
            <mesh filename="package://io_mocap/description/meshes/r_figer3_3.STL" />
        </geometry>
        <material name="">
            <color rgba="0.866666666666667 0.866666666666667 0.890196078431372 1" />
        </material>
        </visual>
        <collision>
        <origin xyz="0 0 0" rpy="0 0 0" />
        <geometry>
            <mesh filename="package://io_mocap/description/meshes/r_figer3_3.STL" />
        </geometry>
        </collision>
    <inertial>
      <origin xyz="-0.00206695076515162 0.00595466267902344 0.0396191242055763" rpy="0 0 0" />
      <mass value="0.0161754304135971" />
      <inertia ixx="8.0153707109736E-06" ixy="1.14969861774631E-08" ixz="2.95210053758236E-08" iyy="6.71271011825663E-06" iyz="-2.16683563700017E-06" izz="1.45683814017063E-06" />
    </inertial>
    </link>
    <link name="link_RightSkeletonMiddle4">
        <visual>
        <origin xyz="0 0 0" rpy="0 0 0" />
        <geometry>
            <mesh filename="package://io_mocap/description/meshes/r_figer3_4.STL" />
        </geometry>
        <material name="">
            <color rgba="0.615686274509804 0.643137254901961 0.674509803921569 1" />
        </material>
        </visual>
        <collision>
        <origin xyz="0 0 0" rpy="0 0 0" />
        <geometry>
            <mesh filename="package://io_mocap/description/meshes/r_figer3_4.STL" />
        </geometry>
        </collision>
    <inertial>
      <origin xyz="-0.00202068521679841 2.85014659096028E-09 -0.00321297260277745" rpy="0 0 0" />
      <mass value="0.00170718213815508" />
      <inertia ixx="3.10712233986923E-08" ixy="1.23207006127953E-13" ixz="-1.57311258386368E-09" iyy="3.05127263487505E-08" iyz="9.68401293408717E-15" izz="3.29729484420319E-08" />
    </inertial>
    </link>
    <link name="link_RightSkeletonRing1">
        <visual>
        <origin xyz="0 0 0" rpy="0 0 0" />
        <geometry>
            <mesh filename="package://io_mocap/description/meshes/r_figer4_1.STL" />
        </geometry>
        <material name="">
            <color rgba="0.866666666666667 0.866666666666667 0.890196078431372 1" />
        </material>
        </visual>
        <collision>
        <origin xyz="0 0 0" rpy="0 0 0" />
        <geometry>
            <mesh filename="package://io_mocap/description/meshes/r_figer4_1.STL" />
        </geometry>
        </collision>
    <inertial>
      <origin xyz="-3.08137699578659E-05 0.00155958987698483 0.00462325168671868" rpy="0 0 0" />
      <mass value="0.00178187238326556" />
      <inertia ixx="1.03584311739983E-07" ixy="-5.01361101967661E-10" ixz="-1.21200232189231E-10" iyy="8.49153643127528E-08" iyz="-2.36939083495156E-08" izz="3.91673232386826E-08" />
    </inertial>
    </link>
    <link name="link_RightSkeletonRing2">
        <visual>
        <origin xyz="0 0 0" rpy="0 0 0" />
        <geometry>
            <mesh filename="package://io_mocap/description/meshes/r_figer4_2.STL" />
        </geometry>
        <material name="">
            <color rgba="0.615686274509804 0.643137254901961 0.674509803921569 1" />
        </material>
        </visual>
        <collision>
        <origin xyz="0 0 0" rpy="0 0 0" />
        <geometry>
            <mesh filename="package://io_mocap/description/meshes/r_figer4_2.STL" />
        </geometry>
        </collision>
    <inertial>
      <origin xyz="-0.00195143791803568 0.0149259451735643 0.0306904661223932" rpy="0 0 0" />
      <mass value="0.0073655185148107" />
      <inertia ixx="3.20023827686467E-06" ixy="9.24466025134935E-09" ixz="1.26143115807102E-08" iyy="1.85454238372297E-06" iyz="-1.47246699804248E-06" izz="1.41056096627149E-06" />
    </inertial>
    </link>
    <link name="link_RightSkeletonRing3">
        <visual>
        <origin xyz="0 0 0" rpy="0 0 0" />
        <geometry>
            <mesh filename="package://io_mocap/description/meshes/r_figer4_3.STL" />
        </geometry>
        <material name="">
            <color rgba="0.866666666666667 0.866666666666667 0.890196078431372 1" />
        </material>
        </visual>
        <collision>
        <origin xyz="0 0 0" rpy="0 0 0" />
        <geometry>
            <mesh filename="package://io_mocap/description/meshes/r_figer4_3.STL" />
        </geometry>
        </collision>
    <inertial>
      <origin xyz="-0.0020669507651517 0.00595466267902345 0.0396191242055764" rpy="0 0 0" />
      <mass value="0.0161754304135971" />
      <inertia ixx="8.01537071097359E-06" ixy="1.14969861774632E-08" ixz="2.95210053758249E-08" iyy="6.71271011825663E-06" iyz="-2.16683563700017E-06" izz="1.45683814017062E-06" />
    </inertial>
    </link>
    <link name="link_RightSkeletonRing4">
        <visual>
        <origin xyz="0 0 0" rpy="0 0 0" />
        <geometry>
            <mesh filename="package://io_mocap/description/meshes/r_figer4_4.STL" />
        </geometry>
        <material name="">
            <color rgba="0.615686274509804 0.643137254901961 0.674509803921569 1" />
        </material>
        </visual>
        <collision>
        <origin xyz="0 0 0" rpy="0 0 0" />
        <geometry>
            <mesh filename="package://io_mocap/description/meshes/r_figer4_4.STL" />
        </geometry>
        </collision>
    <inertial>
      <origin xyz="-0.00202068521679838 2.85014667422701E-09 -0.00321297260277745" rpy="0 0 0" />
      <mass value="0.00170718213815507" />
      <inertia ixx="3.10712233986923E-08" ixy="1.2320700606364E-13" ixz="-1.57311258386376E-09" iyy="3.05127263487504E-08" iyz="9.68401291305869E-15" izz="3.29729484420317E-08" />
    </inertial>
    </link>
    <link name="link_RightSkeletonPinky1">
        <visual>
        <origin xyz="0 0 0" rpy="0 0 0" />
        <geometry>
            <mesh filename="package://io_mocap/description/meshes/r_figer5_1.STL" />
        </geometry>
        <material name="">
            <color rgba="0.866666666666667 0.866666666666667 0.890196078431372 1" />
        </material>
        </visual>
        <collision>
        <origin xyz="0 0 0" rpy="0 0 0" />
        <geometry>
            <mesh filename="package://io_mocap/description/meshes/r_figer5_1.STL" />
        </geometry>
        </collision>
    <inertial>
      <origin xyz="-3.08137699577826E-05 0.00155958987698486 0.00462325168671867" rpy="0 0 0" />
      <mass value="0.00178187238326556" />
      <inertia ixx="1.03584311739983E-07" ixy="-5.01361101967618E-10" ixz="-1.21200232189254E-10" iyy="8.49153643127528E-08" iyz="-2.36939083495155E-08" izz="3.91673232386827E-08" />
    </inertial>
    </link>
    <link name="link_RightSkeletonPinky2">
        <visual>
        <origin xyz="0 0 0" rpy="0 0 0" />
        <geometry>
            <mesh filename="package://io_mocap/description/meshes/r_figer5_2.STL" />
        </geometry>
        <material name="">
            <color rgba="0.615686274509804 0.643137254901961 0.674509803921569 1" />
        </material>
        </visual>
        <collision>
        <origin xyz="0 0 0" rpy="0 0 0" />
        <geometry>
            <mesh filename="package://io_mocap/description/meshes/r_figer5_2.STL" />
        </geometry>
        </collision>
    <inertial>
      <origin xyz="-0.00195143791803554 0.0149259451735644 0.0306904661223932" rpy="0 0 0" />
      <mass value="0.00736551851481074" />
      <inertia ixx="3.20023827686469E-06" ixy="9.24466025134985E-09" ixz="1.261431158071E-08" iyy="1.85454238372298E-06" iyz="-1.4724669980425E-06" izz="1.4105609662715E-06" />
    </inertial>
    </link>
    <link name="link_RightSkeletonPinky3">
        <visual>
        <origin xyz="0 0 0" rpy="0 0 0" />
        <geometry>
            <mesh filename="package://io_mocap/description/meshes/r_figer5_3.STL" />
        </geometry>
        <material name="">
            <color rgba="0.866666666666667 0.866666666666667 0.890196078431372 1" />
        </material>
        </visual>
        <collision>
        <origin xyz="0 0 0" rpy="0 0 0" />
        <geometry>
            <mesh filename="package://io_mocap/description/meshes/r_figer5_3.STL" />
        </geometry>
        </collision>
    <inertial>
      <origin xyz="-0.00206695076515168 0.00595466267902345 0.0396191242055763" rpy="0 0 0" />
      <mass value="0.0161754304135971" />
      <inertia ixx="8.01537071097362E-06" ixy="1.14969861774657E-08" ixz="2.95210053758295E-08" iyy="6.71271011825663E-06" iyz="-2.16683563700017E-06" izz="1.45683814017063E-06" />
    </inertial>
    </link>
    <link name="link_RightSkeletonPinky4">
        <visual>
        <origin xyz="0 0 0" rpy="0 0 0" />
        <geometry>
            <mesh filename="package://io_mocap/description/meshes/r_figer5_4.STL" />
        </geometry>
        <material name="">
            <color rgba="0.615686274509804 0.643137254901961 0.674509803921569 1" />
        </material>
        </visual>
        <collision>
        <origin xyz="0 0 0" rpy="0 0 0" />
        <geometry>
            <mesh filename="package://io_mocap/description/meshes/r_figer5_4.STL" />
        </geometry>
        </collision>
    <inertial>
      <origin xyz="-0.00202068500082991 2.01219871320824E-09 -0.00321297182351059" rpy="0 0 0" />
      <mass value="0.00170718152438983" />
      <inertia ixx="3.10712154072883E-08" ixy="1.19566665025053E-13" ixz="-1.57310753561126E-09" iyy="3.05127270354256E-08" iyz="7.47749212603186E-15" izz="3.29729436279812E-08" />
    </inertial>
    </link>
    <link name="link_LeftShoulder_R" />
    <link name="link_LeftShoulder_P" />
    <link name="link_LeftShoulder_Y">
        <inertia ixx="1.0" ixy="0.0" ixz="0.0" iyy="1.0" iyz="0.0" izz="1.0" />
        <mass value="5.000000" />
        <visual>
            <origin rpy="0 0 0" xyz="-0.075 0 0" />
            <geometry>
                <box size="0.15 0.02 0.02" />
            </geometry>
            <material name="mat_col_(0.6509803921568628, 0.807843137254902, 0.8901960784313725)">
                <color rgba="0.65 0.81 0.89 1.0" />
            </material>
        </visual>
    </link>
    <link name="link_LeftArm_R" />
    <link name="link_LeftArm_P" />
    <link name="link_LeftArm_Y">
        <inertia ixx="1.0" ixy="0.0" ixz="0.0" iyy="1.0" iyz="0.0" izz="1.0" />
        <mass value="5.000000" />
        <visual>
            <origin rpy="0 0 0" xyz="0 0 -0.13" />
            <geometry>
                <box size="0.02 0.02 0.26" />
            </geometry>
            <material name="mat_col_(0.792156862745098, 0.6980392156862745, 0.8392156862745098)">
                <color rgba="0.79 0.70 0.84 1.0" />
            </material>
        </visual>
    </link>
    <link name="link_LeftForeArm_R" />
    <link name="link_LeftForeArm_P" />
    <link name="link_LeftForeArm_Y">
        <inertia ixx="1.0" ixy="0.0" ixz="0.0" iyy="1.0" iyz="0.0" izz="1.0" />
        <mass value="5.000000" />
        <visual>
            <origin rpy="0 0 0" xyz="0 0 -0.12" />
            <geometry>
                <box size="0.02 0.02 0.24" />
            </geometry>
            <material name="mat_col_(0.6509803921568628, 0.807843137254902, 0.8901960784313725)">
                <color rgba="0.65 0.81 0.89 1.0" />
            </material>
        </visual>
    </link>
    <link name="link_LeftHand_R" />
    <link name="link_LeftHand_P" />
    <link name="link_LeftHand_Y">
        <inertia ixx="1.0" ixy="0.0" ixz="0.0" iyy="1.0" iyz="0.0" izz="1.0" />
        <mass value="5.000000" />
        <visual>
            <origin rpy="0 0 0" xyz="0 0 -0.017634012177586554" />
            <geometry>
                <box size="0.02 0.02 0.030043131858110427" />
            </geometry>
            <material name="mat_col_(0.6941176470588235, 0.34901960784313724, 0.1568627450980392)">
                <color rgba="0.69 0.35 0.16 1.0" />
            </material>
        </visual>
    </link>
    <link name="link_LeftHandThumb1_R" />
    <link name="link_LeftHandThumb1_P" />
    <link name="link_LeftHandThumb1_Y">
        <inertia ixx="1.0" ixy="0.0" ixz="0.0" iyy="1.0" iyz="0.0" izz="1.0" />
        <mass value="5.000000" />
        <visual>
            <origin rpy="0 0 0" xyz="0 0 -0.02090881034731865" />
            <geometry>
                <box size="0.01 0.01 0.035622417628765106" />
            </geometry>
            <material name="mat_col_(0.792156862745098, 0.6980392156862745, 0.8392156862745098)">
                <color rgba="0.79 0.70 0.84 1.0" />
            </material>
        </visual>
    </link>
    <link name="link_LeftHandThumb2_R" />
    <link name="link_LeftHandThumb2_P" />
    <link name="link_LeftHandThumb2_Y">
        <inertia ixx="1.0" ixy="0.0" ixz="0.0" iyy="1.0" iyz="0.0" izz="1.0" />
        <mass value="5.000000" />
        <visual>
            <origin rpy="0 0 0" xyz="0 0 -0.014525998458266258" />
            <geometry>
                <box size="0.01 0.01 0.024747997373342514" />
            </geometry>
            <material name="mat_col_(0.41568627450980394, 0.23921568627450981, 0.6039215686274509)">
                <color rgba="0.42 0.24 0.60 1.0" />
            </material>
        </visual>
    </link>
    <link name="link_LeftHandThumb3_R" />
    <link name="link_LeftHandThumb3_P" />
    <link name="link_LeftHandThumb3_Y">
        <inertia ixx="1.0" ixy="0.0" ixz="0.0" iyy="1.0" iyz="0.0" izz="1.0" />
        <mass value="5.000000" />
        <visual>
            <origin rpy="0 0 0" xyz="0 0 -0.013699802979826927" />
            <geometry>
                <box size="0.01 0.01 0.023340405076742173" />
            </geometry>
            <material name="mat_col_(0.6509803921568628, 0.807843137254902, 0.8901960784313725)">
                <color rgba="0.65 0.81 0.89 1.0" />
            </material>
        </visual>
    </link>
    <link name="link_LeftInHandIndex_R" />
    <link name="link_LeftInHandIndex_P" />
    <link name="link_LeftInHandIndex_Y">
        <inertia ixx="1.0" ixy="0.0" ixz="0.0" iyy="1.0" iyz="0.0" izz="1.0" />
        <mass value="5.000000" />
        <visual>
            <origin rpy="0 0 0" xyz="0 0 -0.030162290632724763" />
            <geometry>
                <box size="0.01 0.01 0.051387606263160704" />
            </geometry>
            <material name="mat_col_(0.2, 0.6274509803921569, 0.17254901960784313)">
                <color rgba="0.20 0.63 0.17 1.0" />
            </material>
        </visual>
    </link>
    <link name="link_LeftHandIndex1_R" />
    <link name="link_LeftHandIndex1_P" />
    <link name="link_LeftHandIndex1_Y">
        <inertia ixx="1.0" ixy="0.0" ixz="0.0" iyy="1.0" iyz="0.0" izz="1.0" />
        <mass value="5.000000" />
        <visual>
            <origin rpy="0 0 0" xyz="0 0 -0.020552407130599023" />
            <geometry>
                <box size="0.01 0.01 0.03501521214842796" />
            </geometry>
            <material name="mat_col_(1.0, 0.4980392156862745, 0.0)">
                <color rgba="1.00 0.50 0.00 1.0" />
            </material>
        </visual>
    </link>
    <link name="link_LeftHandIndex2_R" />
    <link name="link_LeftHandIndex2_P" />
    <link name="link_LeftHandIndex2_Y">
        <inertia ixx="1.0" ixy="0.0" ixz="0.0" iyy="1.0" iyz="0.0" izz="1.0" />
        <mass value="5.000000" />
        <visual>
            <origin rpy="0 0 0" xyz="0 0 -0.011653190664947032" />
            <geometry>
                <box size="0.01 0.01 0.019853584095835687" />
            </geometry>
            <material name="mat_col_(0.984313725490196, 0.6039215686274509, 0.6)">
                <color rgba="0.98 0.60 0.60 1.0" />
            </material>
        </visual>
    </link>
    <link name="link_LeftHandIndex3_R" />
    <link name="link_LeftHandIndex3_P" />
    <link name="link_LeftHandIndex3_Y">
        <inertia ixx="1.0" ixy="0.0" ixz="0.0" iyy="1.0" iyz="0.0" izz="1.0" />
        <mass value="5.000000" />
        <visual>
            <origin rpy="0 0 0" xyz="0 0 -0.010249215178191662" />
            <geometry>
                <box size="0.01 0.01 0.01746162585914135" />
            </geometry>
            <material name="mat_col_(0.6509803921568628, 0.807843137254902, 0.8901960784313725)">
                <color rgba="0.65 0.81 0.89 1.0" />
            </material>
        </visual>
    </link>
    <link name="link_LeftInHandMiddle_R" />
    <link name="link_LeftInHandMiddle_P" />
    <link name="link_LeftInHandMiddle_Y">
        <inertia ixx="1.0" ixy="0.0" ixz="0.0" iyy="1.0" iyz="0.0" izz="1.0" />
        <mass value="5.000000" />
        <visual>
            <origin rpy="0 0 0" xyz="0 0 -0.02943922273814678" />
            <geometry>
                <box size="0.01 0.01 0.050155712813138964" />
            </geometry>
            <material name="mat_col_(0.6980392156862745, 0.8745098039215686, 0.5411764705882353)">
                <color rgba="0.70 0.87 0.54 1.0" />
            </material>
        </visual>
    </link>
    <link name="link_LeftHandMiddle1_R" />
    <link name="link_LeftHandMiddle1_P" />
    <link name="link_LeftHandMiddle1_Y">
        <inertia ixx="1.0" ixy="0.0" ixz="0.0" iyy="1.0" iyz="0.0" izz="1.0" />
        <mass value="5.000000" />
        <visual>
            <origin rpy="0 0 0" xyz="0 0 -0.022426203042268753" />
            <geometry>
                <box size="0.01 0.01 0.03820760518312454" />
            </geometry>
            <material name="mat_col_(0.6941176470588235, 0.34901960784313724, 0.1568627450980392)">
                <color rgba="0.69 0.35 0.16 1.0" />
            </material>
        </visual>
    </link>
    <link name="link_LeftHandMiddle2_R" />
    <link name="link_LeftHandMiddle2_P" />
    <link name="link_LeftHandMiddle2_Y">
        <inertia ixx="1.0" ixy="0.0" ixz="0.0" iyy="1.0" iyz="0.0" izz="1.0" />
        <mass value="5.000000" />
        <visual>
            <origin rpy="0 0 0" xyz="0 0 -0.014056202173233032" />
            <geometry>
                <box size="0.01 0.01 0.023947603702545166" />
            </geometry>
            <material name="mat_col_(0.6509803921568628, 0.807843137254902, 0.8901960784313725)">
                <color rgba="0.65 0.81 0.89 1.0" />
            </material>
        </visual>
    </link>
    <link name="link_LeftHandMiddle3_R" />
    <link name="link_LeftHandMiddle3_P" />
    <link name="link_LeftHandMiddle3_Y">
        <inertia ixx="1.0" ixy="0.0" ixz="0.0" iyy="1.0" iyz="0.0" izz="1.0" />
        <mass value="5.000000" />
        <visual>
            <origin rpy="0 0 0" xyz="0 0 -0.011210399866104125" />
            <geometry>
                <box size="0.01 0.01 0.019099199771881105" />
            </geometry>
            <material name="mat_col_(0.6509803921568628, 0.807843137254902, 0.8901960784313725)">
                <color rgba="0.65 0.81 0.89 1.0" />
            </material>
        </visual>
    </link>
    <link name="link_LeftInHandRing_R" />
    <link name="link_LeftInHandRing_P" />
    <link name="link_LeftInHandRing_Y">
        <inertia ixx="1.0" ixy="0.0" ixz="0.0" iyy="1.0" iyz="0.0" izz="1.0" />
        <mass value="5.000000" />
        <visual>
            <origin rpy="0 0 0" xyz="0 0 -0.026454875618219374" />
            <geometry>
                <box size="0.01 0.01 0.04507126957178116" />
            </geometry>
            <material name="mat_col_(1.0, 1.0, 0.6)">
                <color rgba="1.00 1.00 0.60 1.0" />
            </material>
        </visual>
    </link>
    <link name="link_LeftHandRing1_R" />
    <link name="link_LeftHandRing1_P" />
    <link name="link_LeftHandRing1_Y">
        <inertia ixx="1.0" ixy="0.0" ixz="0.0" iyy="1.0" iyz="0.0" izz="1.0" />
        <mass value="5.000000" />
        <visual>
            <origin rpy="0 0 0" xyz="0 0 -0.019542589634656906" />
            <geometry>
                <box size="0.01 0.01 0.03329478234052658" />
            </geometry>
            <material name="mat_col_(0.8901960784313725, 0.10196078431372549, 0.10980392156862745)">
                <color rgba="0.89 0.10 0.11 1.0" />
            </material>
        </visual>
    </link>
    <link name="link_LeftHandRing2_R" />
    <link name="link_LeftHandRing2_P" />
    <link name="link_LeftHandRing2_Y">
        <inertia ixx="1.0" ixy="0.0" ixz="0.0" iyy="1.0" iyz="0.0" izz="1.0" />
        <mass value="5.000000" />
        <visual>
            <origin rpy="0 0 0" xyz="0 0 -0.01355940341949463" />
            <geometry>
                <box size="0.01 0.01 0.023101205825805663" />
            </geometry>
            <material name="mat_col_(0.2, 0.6274509803921569, 0.17254901960784313)">
                <color rgba="0.20 0.63 0.17 1.0" />
            </material>
        </visual>
    </link>
    <link name="link_LeftHandRing3_R" />
    <link name="link_LeftHandRing3_P" />
    <link name="link_LeftHandRing3_Y">
        <inertia ixx="1.0" ixy="0.0" ixz="0.0" iyy="1.0" iyz="0.0" izz="1.0" />
        <mass value="5.000000" />
        <visual>
            <origin rpy="0 0 0" xyz="0 0 -0.010540791749954224" />
            <geometry>
                <box size="0.01 0.01 0.017958385944366453" />
            </geometry>
            <material name="mat_col_(0.984313725490196, 0.6039215686274509, 0.6)">
                <color rgba="0.98 0.60 0.60 1.0" />
            </material>
        </visual>
    </link>
    <link name="link_LeftInHandPinky_R" />
    <link name="link_LeftInHandPinky_P" />
    <link name="link_LeftInHandPinky_Y">
        <inertia ixx="1.0" ixy="0.0" ixz="0.0" iyy="1.0" iyz="0.0" izz="1.0" />
        <mass value="5.000000" />
        <visual>
            <origin rpy="0 0 0" xyz="0 0 -0.024314074516296386" />
            <geometry>
                <box size="0.01 0.01 0.041423978805541994" />
            </geometry>
            <material name="mat_col_(0.12156862745098039, 0.47058823529411764, 0.7058823529411765)">
                <color rgba="0.12 0.47 0.71 1.0" />
            </material>
        </visual>
    </link>
    <link name="link_LeftHandPinky1_R" />
    <link name="link_LeftHandPinky1_P" />
    <link name="link_LeftHandPinky1_Y">
        <inertia ixx="1.0" ixy="0.0" ixz="0.0" iyy="1.0" iyz="0.0" izz="1.0" />
        <mass value="5.000000" />
        <visual>
            <origin rpy="0 0 0" xyz="0 0 -0.015649211034178732" />
            <geometry>
                <box size="0.01 0.01 0.026661618798971175" />
            </geometry>
            <material name="mat_col_(0.984313725490196, 0.6039215686274509, 0.6)">
                <color rgba="0.98 0.60 0.60 1.0" />
            </material>
        </visual>
    </link>
    <link name="link_LeftHandPinky2_R" />
    <link name="link_LeftHandPinky2_P" />
    <link name="link_LeftHandPinky2_Y">
        <inertia ixx="1.0" ixy="0.0" ixz="0.0" iyy="1.0" iyz="0.0" izz="1.0" />
        <mass value="5.000000" />
        <visual>
            <origin rpy="0 0 0" xyz="0 0 -0.009887406639754771" />
            <geometry>
                <box size="0.01 0.01 0.0168452113121748" />
            </geometry>
            <material name="mat_col_(0.984313725490196, 0.6039215686274509, 0.6)">
                <color rgba="0.98 0.60 0.60 1.0" />
            </material>
        </visual>
    </link>
    <link name="link_LeftHandPinky3_R" />
    <link name="link_LeftHandPinky3_P" />
    <link name="link_LeftHandPinky3_Y">
        <inertia ixx="1.0" ixy="0.0" ixz="0.0" iyy="1.0" iyz="0.0" izz="1.0" />
        <mass value="5.000000" />
        <visual>
            <origin rpy="0 0 0" xyz="0 0 -0.009342006258666515" />
            <geometry>
                <box size="0.01 0.01 0.015916010662913323" />
            </geometry>
            <material name="mat_col_(0.41568627450980394, 0.23921568627450981, 0.6039215686274509)">
                <color rgba="0.42 0.24 0.60 1.0" />
            </material>
        </visual>
    </link>
    
    <link name="link_LeftMarker">
        <visual>
        <origin xyz="0 0 0" rpy="0 0 0" />
        <geometry>
            <mesh filename="package://io_mocap/description/meshes/L_markseat.STL" />
        </geometry>
        <material name="">
            <color rgba="0.792156862745098 0.819607843137255 0.933333333333333 1" />
        </material>
        </visual>
        <collision>
        <origin xyz="0 0 0" rpy="0 0 0" />
        <geometry>
            <mesh filename="package://io_mocap/description/meshes/L_markseat.STL" />
        </geometry>
        </collision>
    <inertial>
      <origin xyz="0.00294203633534093 1.08765645101538E-09 -0.00737738070930407" rpy="0 0 0" />
      <mass value="0.0154177032704756" />
      <inertia ixx="5.71644078153582E-06" ixy="-1.51036310317042E-12" ixz="3.68081022115822E-08" iyy="2.68588112925339E-06" iyz="3.37822886037129E-14" izz="8.26174791000096E-06" />
    </inertial>
    </link>
    <link name="link_LeftSkeletonBase">
        <visual>
        <origin xyz="0 0 0" rpy="0 0 0" />
        <geometry>
            <mesh filename="package://io_mocap/description/meshes/L_base_link.STL" />
        </geometry>
        <material name="">
            <color rgba="0.615686274509804 0.643137254901961 0.674509803921569 1" />
        </material>
        </visual>
        <collision>
        <origin xyz="0 0 0" rpy="0 0 0" />
        <geometry>
            <mesh filename="package://io_mocap/description/meshes/L_base_link.STL" />
        </geometry>
        </collision>
    <inertial>
      <origin xyz="-0.00216860485181531 -0.0223662449192669 -0.0107723517317311" rpy="0 0 0" />
      <mass value="0.0758070821137531" />
      <inertia ixx="3.23129351252927E-05" ixy="1.31540512277212E-05" ixz="4.93984128861949E-06" iyy="5.16131851464025E-05" iyz="-4.6880338172161E-06" izz="7.78231205506102E-05" />
    </inertial>
    </link>
    <link name="link_LeftSkeletonThumb1">
        <visual>
        <origin xyz="0 0 0" rpy="0 0 0" />
        <geometry>
            <mesh filename="package://io_mocap/description/meshes/L_figer_1_1.STL" />
        </geometry>
        <material name="">
            <color rgba="0.866666666666667 0.866666666666667 0.890196078431372 1" />
        </material>
        </visual>
        <collision>
        <origin xyz="0 0 0" rpy="0 0 0" />
        <geometry>
            <mesh filename="package://io_mocap/description/meshes/L_figer_1_1.STL" />
        </geometry>
        </collision>
    <inertial>
      <origin xyz="-3.08137699578589E-05 0.00155958987698486 0.00462325168671868" rpy="0 0 0" />
      <mass value="0.00178187238326557" />
      <inertia ixx="1.03584311739983E-07" ixy="-5.01361101967613E-10" ixz="-1.21200232189219E-10" iyy="8.49153643127529E-08" iyz="-2.36939083495156E-08" izz="3.91673232386827E-08" />
    </inertial>
    </link>
    <link name="link_LeftSkeletonThumb2">
        <visual>
        <origin xyz="0 0 0" rpy="0 0 0" />
        <geometry>
            <mesh filename="package://io_mocap/description/meshes/L_figer_1_2.STL" />
        </geometry>
        <material name="">
            <color rgba="0.866666666666667 0.866666666666667 0.890196078431372 1" />
        </material>
        </visual>
        <collision>
        <origin xyz="0 0 0" rpy="0 0 0" />
        <geometry>
            <mesh filename="package://io_mocap/description/meshes/L_figer_1_2.STL" />
        </geometry>
        </collision>
    <inertial>
      <origin xyz="-0.00195005414053002 0.011276259608143 0.0266177464261868" rpy="0 0 0" />
      <mass value="0.00637018046657643" />
      <inertia ixx="2.00538384225126E-06" ixy="7.45002633580953E-09" ixz="1.09467436691777E-08" iyy="1.23040434627638E-06" iyz="-8.8499690403217E-07" izz="8.30631590733539E-07" />
    </inertial>
    </link>
    <link name="link_LeftSkeletonThumb3">
        <visual>
        <origin xyz="0 0 0" rpy="0 0 0" />
        <geometry>
            <mesh filename="package://io_mocap/description/meshes/L_figer_1_3.STL" />
        </geometry>
        <material name="">
            <color rgba="0.866666666666667 0.866666666666667 0.890196078431372 1" />
        </material>
        </visual>
        <collision>
        <origin xyz="0 0 0" rpy="0 0 0" />
        <geometry>
            <mesh filename="package://io_mocap/description/meshes/L_figer_1_3.STL" />
        </geometry>
        </collision>
    <inertial>
      <origin xyz="-0.00206695076515167 0.00595466267902342 0.0396191242055762" rpy="0 0 0" />
      <mass value="0.0161754304135971" />
      <inertia ixx="8.01537071097359E-06" ixy="1.14969861774624E-08" ixz="2.95210053758217E-08" iyy="6.71271011825662E-06" iyz="-2.16683563700016E-06" izz="1.45683814017062E-06" />
    </inertial>
    </link>
    <link name="link_LeftSkeletonThumb4">
        <visual>
        <origin xyz="0 0 0" rpy="0 0 0" />
        <geometry>
            <mesh filename="package://io_mocap/description/meshes/L_figer_1_4.STL" />
        </geometry>
        <material name="">
            <color rgba="0.866666666666667 0.866666666666667 0.890196078431372 1" />
        </material>
        </visual>
        <collision>
        <origin xyz="0 0 0" rpy="0 0 0" />
        <geometry>
            <mesh filename="package://io_mocap/description/meshes/L_figer_1_4.STL" />
        </geometry>
        </collision>
    <inertial>
      <origin xyz="-0.00202068525817356 2.58103613481886E-09 -0.0032129684560357" rpy="0 0 0" />
      <mass value="0.00170717964716617" />
      <inertia ixx="3.10711883007281E-08" ixy="1.09894026728083E-13" ixz="-1.57311964794518E-09" iyy="3.05127327906939E-08" iyz="9.36170770726671E-15" izz="3.29729278862014E-08" />
    </inertial>
    </link>
    <link name="link_LeftSkeletonIndex1">
        <visual>
        <origin xyz="0 0 0" rpy="0 0 0" />
        <geometry>
            <mesh filename="package://io_mocap/description/meshes/L_figer_2_1.STL" />
        </geometry>
        <material name="">
            <color rgba="0.866666666666667 0.866666666666667 0.890196078431372 1" />
        </material>
        </visual>
        <collision>
        <origin xyz="0 0 0" rpy="0 0 0" />
        <geometry>
            <mesh filename="package://io_mocap/description/meshes/L_figer_2_1.STL" />
        </geometry>
        </collision>
    <inertial>
      <origin xyz="-3.0813769957852E-05 0.00155958987698486 0.00462325168671868" rpy="0 0 0" />
      <mass value="0.00178187238326557" />
      <inertia ixx="1.03584311739983E-07" ixy="-5.0136110196762E-10" ixz="-1.21200232189225E-10" iyy="8.4915364312753E-08" iyz="-2.36939083495156E-08" izz="3.91673232386828E-08" />
    </inertial>
    </link>
    <link name="link_LeftSkeletonIndex2">
        <visual>
        <origin xyz="0 0 0" rpy="0 0 0" />
        <geometry>
            <mesh filename="package://io_mocap/description/meshes/L_figer_2_2.STL" />
        </geometry>
        <material name="">
            <color rgba="0.866666666666667 0.866666666666667 0.890196078431372 1" />
        </material>
        </visual>
        <collision>
        <origin xyz="0 0 0" rpy="0 0 0" />
        <geometry>
            <mesh filename="package://io_mocap/description/meshes/L_figer_2_2.STL" />
        </geometry>
        </collision>
    <inertial>
      <origin xyz="-0.00195143791803558 0.0149259451735643 0.0306904661223931" rpy="0 0 0" />
      <mass value="0.00736551851481073" />
      <inertia ixx="3.20023827686468E-06" ixy="9.24466025135016E-09" ixz="1.26143115807106E-08" iyy="1.85454238372298E-06" iyz="-1.47246699804249E-06" izz="1.4105609662715E-06" />
    </inertial>
    </link>
    <link name="link_LeftSkeletonIndex3">
        <visual>
        <origin xyz="0 0 0" rpy="0 0 0" />
        <geometry>
            <mesh filename="package://io_mocap/description/meshes/L_figer_2_3.STL" />
        </geometry>
        <material name="">
            <color rgba="0.866666666666667 0.866666666666667 0.890196078431372 1" />
        </material>
        </visual>
        <collision>
        <origin xyz="0 0 0" rpy="0 0 0" />
        <geometry>
            <mesh filename="package://io_mocap/description/meshes/L_figer_2_3.STL" />
        </geometry>
        </collision>
    <inertial>
      <origin xyz="-0.00206695076515168 0.00595466267902341 0.0396191242055763" rpy="0 0 0" />
      <mass value="0.0161754304135971" />
      <inertia ixx="8.01537071097358E-06" ixy="1.14969861774638E-08" ixz="2.95210053758246E-08" iyy="6.71271011825662E-06" iyz="-2.16683563700016E-06" izz="1.45683814017062E-06" />
    </inertial>
    </link>
    <link name="link_LeftSkeletonIndex4">
        <visual>
        <origin xyz="0 0 0" rpy="0 0 0" />
        <geometry>
            <mesh filename="package://io_mocap/description/meshes/L_figer_2_4.STL" />
        </geometry>
        <material name="">
            <color rgba="0.866666666666667 0.866666666666667 0.890196078431372 1" />
        </material>
        </visual>
        <collision>
        <origin xyz="0 0 0" rpy="0 0 0" />
        <geometry>
            <mesh filename="package://io_mocap/description/meshes/L_figer_2_4.STL" />
        </geometry>
        </collision>
    <inertial>
      <origin xyz="-0.00202068473372964 1.72533787257123E-09 -0.00321297112731497" rpy="0 0 0" />
      <mass value="0.0017071810643739" />
      <inertia ixx="3.10712094574922E-08" ixy="1.16914961138646E-13" ixz="-1.57310530138498E-09" iyy="3.05127276007408E-08" iyz="7.01459276360167E-15" izz="3.2972939723945E-08" />
    </inertial>
    </link>
    <link name="link_LeftSkeletonMiddle1">
        <visual>
        <origin xyz="0 0 0" rpy="0 0 0" />
        <geometry>
            <mesh filename="package://io_mocap/description/meshes/L_figer_3_1.STL" />
        </geometry>
        <material name="">
            <color rgba="0.866666666666667 0.866666666666667 0.890196078431372 1" />
        </material>
        </visual>
        <collision>
        <origin xyz="0 0 0" rpy="0 0 0" />
        <geometry>
            <mesh filename="package://io_mocap/description/meshes/L_figer_3_1.STL" />
        </geometry>
        </collision>
    <inertial>
      <origin xyz="-3.08137699578451E-05 0.00155958987698486 0.00462325168671869" rpy="0 0 0" />
      <mass value="0.00178187238326557" />
      <inertia ixx="1.03584311739983E-07" ixy="-5.01361101967617E-10" ixz="-1.21200232189227E-10" iyy="8.4915364312753E-08" iyz="-2.36939083495157E-08" izz="3.91673232386828E-08" />
    </inertial>
    </link>
    <link name="link_LeftSkeletonMiddle2">
        <visual>
        <origin xyz="0 0 0" rpy="0 0 0" />
        <geometry>
            <mesh filename="package://io_mocap/description/meshes/L_figer_3_2.STL" />
        </geometry>
        <material name="">
            <color rgba="0.866666666666667 0.866666666666667 0.890196078431372 1" />
        </material>
        </visual>
        <collision>
        <origin xyz="0 0 0" rpy="0 0 0" />
        <geometry>
            <mesh filename="package://io_mocap/description/meshes/L_figer_3_2.STL" />
        </geometry>
        </collision>
    <inertial>
      <origin xyz="-0.00195143791803559 0.0149259451735643 0.0306904661223931" rpy="0 0 0" />
      <mass value="0.00736551851481073" />
      <inertia ixx="3.20023827686468E-06" ixy="9.24466025135031E-09" ixz="1.26143115807111E-08" iyy="1.85454238372298E-06" iyz="-1.47246699804249E-06" izz="1.4105609662715E-06" />
    </inertial>
    </link>
    <link name="link_LeftSkeletonMiddle3">
        <visual>
        <origin xyz="0 0 0" rpy="0 0 0" />
        <geometry>
            <mesh filename="package://io_mocap/description/meshes/L_figer_3_3.STL" />
        </geometry>
        <material name="">
            <color rgba="0.866666666666667 0.866666666666667 0.890196078431372 1" />
        </material>
        </visual>
        <collision>
        <origin xyz="0 0 0" rpy="0 0 0" />
        <geometry>
            <mesh filename="package://io_mocap/description/meshes/L_figer_3_3.STL" />
        </geometry>
        </collision>
    <inertial>
      <origin xyz="-0.00206695076515167 0.0059546626790234 0.0396191242055762" rpy="0 0 0" />
      <mass value="0.0161754304135971" />
      <inertia ixx="8.01537071097357E-06" ixy="1.14969861774628E-08" ixz="2.95210053758243E-08" iyy="6.71271011825661E-06" iyz="-2.16683563700016E-06" izz="1.45683814017061E-06" />
    </inertial>
    </link>
    <link name="link_LeftSkeletonMiddle4">
        <visual>
        <origin xyz="0 0 0" rpy="0 0 0" />
        <geometry>
            <mesh filename="package://io_mocap/description/meshes/L_figer_3_4.STL" />
        </geometry>
        <material name="">
            <color rgba="0.866666666666667 0.866666666666667 0.890196078431372 1" />
        </material>
        </visual>
        <collision>
        <origin xyz="0 0 0" rpy="0 0 0" />
        <geometry>
            <mesh filename="package://io_mocap/description/meshes/L_figer_3_4.STL" />
        </geometry>
        </collision>
    <inertial>
      <origin xyz="-0.00202068520451038 2.85168433311611E-09 -0.00321297260190893" rpy="0 0 0" />
      <mass value="0.00170718213704933" />
      <inertia ixx="3.10712234164475E-08" ixy="1.2321375896743E-13" ixz="-1.57311237938787E-09" iyy="3.05127263140532E-08" iyz="9.74235719454884E-15" izz="3.29729484383529E-08" />
    </inertial>
    </link>
    <link name="link_LeftSkeletonRing1">
        <visual>
        <origin xyz="0 0 0" rpy="0 0 0" />
        <geometry>
            <mesh filename="package://io_mocap/description/meshes/L_figer_4_1.STL" />
        </geometry>
        <material name="">
            <color rgba="0.866666666666667 0.866666666666667 0.890196078431372 1" />
        </material>
        </visual>
        <collision>
        <origin xyz="0 0 0" rpy="0 0 0" />
        <geometry>
            <mesh filename="package://io_mocap/description/meshes/L_figer_4_1.STL" />
        </geometry>
        </collision>
    <inertial>
      <origin xyz="-3.08137699578589E-05 0.00155958987698486 0.00462325168671868" rpy="0 0 0" />
      <mass value="0.00178187238326557" />
      <inertia ixx="1.03584311739983E-07" ixy="-5.01361101967611E-10" ixz="-1.2120023218923E-10" iyy="8.49153643127529E-08" iyz="-2.36939083495156E-08" izz="3.91673232386828E-08" />
    </inertial>
    </link>
    <link name="link_LeftSkeletonRing2">
        <visual>
        <origin xyz="0 0 0" rpy="0 0 0" />
        <geometry>
            <mesh filename="package://io_mocap/description/meshes/L_figer_4_2.STL" />
        </geometry>
        <material name="">
            <color rgba="0.866666666666667 0.866666666666667 0.890196078431372 1" />
        </material>
        </visual>
        <collision>
        <origin xyz="0 0 0" rpy="0 0 0" />
        <geometry>
            <mesh filename="package://io_mocap/description/meshes/L_figer_4_2.STL" />
        </geometry>
        </collision>
    <inertial>
      <origin xyz="-0.0019514379180356 0.0149259451735643 0.0306904661223931" rpy="0 0 0" />
      <mass value="0.00736551851481074" />
      <inertia ixx="3.20023827686468E-06" ixy="9.24466025135009E-09" ixz="1.2614311580711E-08" iyy="1.85454238372298E-06" iyz="-1.47246699804249E-06" izz="1.4105609662715E-06" />
    </inertial>
    </link>
    <link name="link_LeftSkeletonRing3">
        <visual>
        <origin xyz="0 0 0" rpy="0 0 0" />
        <geometry>
            <mesh filename="package://io_mocap/description/meshes/L_figer_4_3.STL" />
        </geometry>
        <material name="">
            <color rgba="0.866666666666667 0.866666666666667 0.890196078431372 1" />
        </material>
        </visual>
        <collision>
        <origin xyz="0 0 0" rpy="0 0 0" />
        <geometry>
            <mesh filename="package://io_mocap/description/meshes/L_figer_4_3.STL" />
        </geometry>
        </collision>
    <inertial>
      <origin xyz="-0.00206695076515168 0.00595466267902341 0.0396191242055762" rpy="0 0 0" />
      <mass value="0.0161754304135971" />
      <inertia ixx="8.01537071097358E-06" ixy="1.14969861774632E-08" ixz="2.95210053758254E-08" iyy="6.71271011825661E-06" iyz="-2.16683563700016E-06" izz="1.45683814017062E-06" />
    </inertial>
    </link>
    <link name="link_LeftSkeletonRing4">
        <visual>
        <origin xyz="0 0 0" rpy="0 0 0" />
        <geometry>
            <mesh filename="package://io_mocap/description/meshes/L_figer_4_4.STL" />
        </geometry>
        <material name="">
            <color rgba="0.866666666666667 0.866666666666667 0.890196078431372 1" />
        </material>
        </visual>
        <collision>
        <origin xyz="0 0 0" rpy="0 0 0" />
        <geometry>
            <mesh filename="package://io_mocap/description/meshes/L_figer_4_4.STL" />
        </geometry>
        </collision>
    <inertial>
      <origin xyz="-0.00202068520451035 2.85168433311611E-09 -0.00321297260190893" rpy="0 0 0" />
      <mass value="0.00170718213704933" />
      <inertia ixx="3.10712234164476E-08" ixy="1.23213758955229E-13" ixz="-1.57311237938783E-09" iyy="3.05127263140532E-08" iyz="9.7423571839312E-15" izz="3.29729484383528E-08" />
    </inertial>
    </link>
    <link name="link_LeftSkeletonPinky1">
        <visual>
        <origin xyz="0 0 0" rpy="0 0 0" />
        <geometry>
            <mesh filename="package://io_mocap/description/meshes/L_figer_5_1.STL" />
        </geometry>
        <material name="">
            <color rgba="0.866666666666667 0.866666666666667 0.890196078431372 1" />
        </material>
        </visual>
        <collision>
        <origin xyz="0 0 0" rpy="0 0 0" />
        <geometry>
            <mesh filename="package://io_mocap/description/meshes/L_figer_5_1.STL" />
        </geometry>
        </collision>
    <inertial>
      <origin xyz="-3.0813769957852E-05 0.00155958987698486 0.00462325168671868" rpy="0 0 0" />
      <mass value="0.00178187238326557" />
      <inertia ixx="1.03584311739983E-07" ixy="-5.01361101967617E-10" ixz="-1.2120023218924E-10" iyy="8.4915364312753E-08" iyz="-2.36939083495157E-08" izz="3.91673232386828E-08" />
    </inertial>
    </link>
    <link name="link_LeftSkeletonPinky2">
        <visual>
        <origin xyz="0 0 0" rpy="0 0 0" />
        <geometry>
            <mesh filename="package://io_mocap/description/meshes/L_figer_5_2.STL" />
        </geometry>
        <material name="">
            <color rgba="0.866666666666667 0.866666666666667 0.890196078431372 1" />
        </material>
        </visual>
        <collision>
        <origin xyz="0 0 0" rpy="0 0 0" />
        <geometry>
            <mesh filename="package://io_mocap/description/meshes/L_figer_5_2.STL" />
        </geometry>
        </collision>
    <inertial>
      <origin xyz="-0.00195143791803559 0.0149259451735643 0.0306904661223931" rpy="0 0 0" />
      <mass value="0.00736551851481073" />
      <inertia ixx="3.20023827686468E-06" ixy="9.24466025135012E-09" ixz="1.26143115807107E-08" iyy="1.85454238372297E-06" iyz="-1.47246699804249E-06" izz="1.41056096627149E-06" />
    </inertial>
    </link>
    <link name="link_LeftSkeletonPinky3">
        <visual>
        <origin xyz="0 0 0" rpy="0 0 0" />
        <geometry>
            <mesh filename="package://io_mocap/description/meshes/L_figer_5_3.STL" />
        </geometry>
        <material name="">
            <color rgba="0.866666666666667 0.866666666666667 0.890196078431372 1" />
        </material>
        </visual>
        <collision>
        <origin xyz="0 0 0" rpy="0 0 0" />
        <geometry>
            <mesh filename="package://io_mocap/description/meshes/L_figer_5_3.STL" />
        </geometry>
        </collision>
    <inertial>
      <origin xyz="-0.00206695076515166 0.00595466267902342 0.0396191242055762" rpy="0 0 0" />
      <mass value="0.0161754304135971" />
      <inertia ixx="8.01537071097359E-06" ixy="1.14969861774627E-08" ixz="2.95210053758243E-08" iyy="6.71271011825661E-06" iyz="-2.16683563700016E-06" izz="1.45683814017062E-06" />
    </inertial>
    </link>
    <link name="link_LeftSkeletonPinky4">
        <visual>
        <origin xyz="0 0 0" rpy="0 0 0" />
        <geometry>
            <mesh filename="package://io_mocap/description/meshes/L_figer_5_4.STL" />
        </geometry>
        <material name="">
            <color rgba="0.866666666666667 0.866666666666667 0.890196078431372 1" />
        </material>
        </visual>
        <collision>
        <origin xyz="0 0 0" rpy="0 0 0" />
        <geometry>
            <mesh filename="package://io_mocap/description/meshes/L_figer_5_4.STL" />
        </geometry>
        </collision>
    <inertial>
      <origin xyz="-0.00202068526480849 3.30325813924226E-09 -0.00321297169927285" rpy="0 0 0" />
      <mass value="0.00170718152515167" />
      <inertia ixx="3.10712141575751E-08" ixy="1.19878581097885E-13" ixz="-1.57311873716789E-09" iyy="3.05127282238683E-08" iyz="1.1529020846844E-14" izz="3.29729430675711E-08" />
    </inertial>
    </link>
    <link name="camera_color_optical_frame">
        <inertia ixx="1.0" ixy="0.0" ixz="0.0" iyy="1.0" iyz="0.0" izz="1.0" />
        <mass value="5.000000" />
    </link>
    
    <joint name="joint_Head_Camera" type="revolute">
        <parent link="link_Head_R" />
        <child link="camera_color_optical_frame" />
        <axis xyz="1 0 0" />
        <limit effort="100.0000" lower="-3.141592653589793" upper="3.141592653589793" velocity="3.0000" />
        <origin rpy="-2.083251 -0.0320048 -0.01900280" xyz="-0.03355291 -0.1370046 -0.02628184" />
    </joint>
    <joint name="joint_Hips_R" type="revolute">
        <parent link="base_link" />
        <child link="link_Hips_R" />
        <axis xyz="1 0 0" />
        <limit effort="100.0000" lower="-3.141592653589793" upper="3.141592653589793" velocity="3.0000" />
        <origin rpy="0 0 0" xyz="0.0 0.0 0.971200" />
    </joint>
    <joint name="joint_Hips_P" type="revolute">
        <parent link="link_Hips_R" />
        <child link="link_Hips_P" />
        <axis xyz="0 1 0" />
        <limit effort="100.0000" lower="-3.141592653589793" upper="3.141592653589793" velocity="3.0000" />
        <origin xyz="0 0 0" rpy="0 0 0" />
    </joint>
    <joint name="joint_Hips_Y" type="revolute">
        <parent link="link_Hips_P" />
        <child link="link_Hips_Y" />
        <axis xyz="0 0 1" />
        <limit effort="100.0000" lower="-3.141592653589793" upper="3.141592653589793" velocity="3.0000" />
        <origin xyz="0 0 0" rpy="0 0 0" />
    </joint>
    <joint name="joint_RightUpLeg_R" type="revolute">
        <parent link="link_Hips_Y" />
        <child link="link_RightUpLeg_R" />
        <axis xyz="1 0 0" />
        <limit effort="100.0000" lower="-3.1415926536" upper="3.1415926536" velocity="3.0000" />
        <origin rpy="0.0 0.0 0" xyz="0.110000 0.0 0.0" />
    </joint>
    <joint name="joint_RightUpLeg_P" type="revolute">
        <parent link="link_RightUpLeg_R" />
        <child link="link_RightUpLeg_P" />
        <axis xyz="0 1 0" />
        <limit effort="100.0000" lower="-3.1415926536" upper="3.1415926536" velocity="3.0000" />
        <origin xyz="0 0 0" rpy="0 0 0" />
    </joint>
    <joint name="joint_RightUpLeg_Y" type="revolute">
        <parent link="link_RightUpLeg_P" />
        <child link="link_RightUpLeg_Y" />
        <axis xyz="0 0 1" />
        <limit effort="100.0000" lower="-3.1415926536" upper="3.1415926536" velocity="3.0000" />
        <origin xyz="0 0 0" rpy="0 0 0" />
    </joint>
    <joint name="joint_RightLeg_R" type="revolute">
        <parent link="link_RightUpLeg_Y" />
        <child link="link_RightLeg_R" />
        <axis xyz="1 0 0" />
        <limit effort="100.0000" lower="-3.1415926536" upper="3.1415926536" velocity="3.0000" />
        <origin rpy="0.0 0.0 0.0" xyz="0.0 0.0 -0.450620" />
    </joint>
    <joint name="joint_RightLeg_P" type="revolute">
        <parent link="link_RightLeg_R" />
        <child link="link_RightLeg_P" />
        <axis xyz="0 1 0" />
        <limit effort="100.0000" lower="-3.1415926536" upper="3.1415926536" velocity="3.0000" />
        <origin xyz="0 0 0" rpy="0 0 0" />
    </joint>
    <joint name="joint_RightLeg_Y" type="revolute">
        <parent link="link_RightLeg_P" />
        <child link="link_RightLeg_Y" />
        <axis xyz="0 0 1" />
        <limit effort="100.0000" lower="-3.1415926536" upper="3.1415926536" velocity="3.0000" />
        <origin xyz="0 0 0" rpy="0 0 0" />
    </joint>
    <joint name="joint_RightFoot_R" type="revolute">
        <parent link="link_RightLeg_Y" />
        <child link="link_RightFoot_R" />
        <axis xyz="1 0 0" />
        <limit effort="100.0000" lower="-3.1415926536" upper="3.1415926536" velocity="3.0000" />
        <origin rpy="0 0 0" xyz="0.0 0.0 -0.420580" />
    </joint>
    <joint name="joint_RightFoot_P" type="revolute">
        <parent link="link_RightFoot_R" />
        <child link="link_RightFoot_P" />
        <axis xyz="0 1 0" />
        <limit effort="100.0000" lower="-3.1415926536" upper="3.1415926536" velocity="3.0000" />
        <origin xyz="0 0 0" rpy="0 0 0" />
    </joint>
    <joint name="joint_RightFoot_Y" type="revolute">
        <parent link="link_RightFoot_P" />
        <child link="link_RightFoot_Y" />
        <axis xyz="0 0 1" />
        <limit effort="100.0000" lower="-3.1415926536" upper="3.1415926536" velocity="3.0000" />
        <origin xyz="0 0 0" rpy="0 0 0" />
    </joint>
    <joint name="joint_LeftUpLeg_R" type="revolute">
        <parent link="link_Hips_Y" />
        <child link="link_LeftUpLeg_R" />
        <axis xyz="1 0 0" />
        <limit effort="100.0000" lower="-3.1415926536" upper="3.1415926536" velocity="3.0000" />
        <origin rpy="0.0 0.0 0" xyz="-0.110000 0.0 0.0" />
    </joint>
    <joint name="joint_LeftUpLeg_P" type="revolute">
        <parent link="link_LeftUpLeg_R" />
        <child link="link_LeftUpLeg_P" />
        <axis xyz="0 1 0" />
        <limit effort="100.0000" lower="-3.1415926536" upper="3.1415926536" velocity="3.0000" />
        <origin xyz="0 0 0" rpy="0 0 0" />
    </joint>
    <joint name="joint_LeftUpLeg_Y" type="revolute">
        <parent link="link_LeftUpLeg_P" />
        <child link="link_LeftUpLeg_Y" />
        <axis xyz="0 0 1" />
        <limit effort="100.0000" lower="-3.1415926536" upper="3.1415926536" velocity="3.0000" />
        <origin xyz="0 0 0" rpy="0 0 0" />
    </joint>
    <joint name="joint_LeftLeg_R" type="revolute">
        <parent link="link_LeftUpLeg_Y" />
        <child link="link_LeftLeg_R" />
        <axis xyz="1 0 0" />
        <limit effort="100.0000" lower="-3.1415926536" upper="3.1415926536" velocity="3.0000" />
        <origin rpy="0.0 0.0 0.0" xyz="0.0 0.0 -0.450620" />
    </joint>
    <joint name="joint_LeftLeg_P" type="revolute">
        <parent link="link_LeftLeg_R" />
        <child link="link_LeftLeg_P" />
        <axis xyz="0 1 0" />
        <limit effort="100.0000" lower="-3.1415926536" upper="3.1415926536" velocity="3.0000" />
        <origin xyz="0 0 0" rpy="0 0 0" />
    </joint>
    <joint name="joint_LeftLeg_Y" type="revolute">
        <parent link="link_LeftLeg_P" />
        <child link="link_LeftLeg_Y" />
        <axis xyz="0 0 1" />
        <limit effort="100.0000" lower="-3.1415926536" upper="3.1415926536" velocity="3.0000" />
        <origin xyz="0 0 0" rpy="0 0 0" />
    </joint>
    <joint name="joint_LeftFoot_R" type="revolute">
        <parent link="link_LeftLeg_Y" />
        <child link="link_LeftFoot_R" />
        <axis xyz="1 0 0" />
        <limit effort="100.0000" lower="-3.1415926536" upper="3.1415926536" velocity="3.0000" />
        <origin rpy="0 0 0" xyz="0.0 0.0 -0.420580" />
    </joint>
    <joint name="joint_LeftFoot_P" type="revolute">
        <parent link="link_LeftFoot_R" />
        <child link="link_LeftFoot_P" />
        <axis xyz="0 1 0" />
        <limit effort="100.0000" lower="-3.1415926536" upper="3.1415926536" velocity="3.0000" />
        <origin xyz="0 0 0" rpy="0 0 0" />
    </joint>
    <joint name="joint_LeftFoot_Y" type="revolute">
        <parent link="link_LeftFoot_P" />
        <child link="link_LeftFoot_Y" />
        <axis xyz="0 0 1" />
        <limit effort="100.0000" lower="-3.1415926536" upper="3.1415926536" velocity="3.0000" />
        <origin xyz="0 0 0" rpy="0 0 0" />
    </joint>
    <joint name="joint_Spine_R" type="revolute">
        <parent link="link_Hips_Y" />
        <child link="link_Spine_R" />
        <axis xyz="1 0 0" />
        <limit effort="100.0000" lower="-3.1415926536" upper="3.1415926536" velocity="3.0000" />
        <origin rpy="0.0 0.0 0.0" xyz="0.0 0.0 0.08" />
    </joint>
    <joint name="joint_Spine_P" type="revolute">
        <parent link="link_Spine_R" />
        <child link="link_Spine_P" />
        <axis xyz="0 1 0" />
        <limit effort="100.0000" lower="-3.1415926536" upper="3.1415926536" velocity="3.0000" />
        <origin xyz="0 0 0" rpy="0 0 0" />
    </joint>
    <joint name="joint_Spine_Y" type="revolute">
        <parent link="link_Spine_P" />
        <child link="link_Spine_Y" />
        <axis xyz="0 0 1" />
        <limit effort="100.0000" lower="-3.1415926536" upper="3.1415926536" velocity="3.0000" />
        <origin xyz="0 0 0" rpy="0 0 0" />
    </joint>
    <joint name="joint_Spine1_R" type="revolute">
        <parent link="link_Spine_Y" />
        <child link="link_Spine1_R" />
        <axis xyz="1 0 0" />
        <limit effort="100.0000" lower="-3.1415926536" upper="3.1415926536" velocity="3.0000" />
        <origin rpy="0.0 0.0 0.0" xyz="0.0 0.0 0.08" />
    </joint>
    <joint name="joint_Spine1_P" type="revolute">
        <parent link="link_Spine1_R" />
        <child link="link_Spine1_P" />
        <axis xyz="0 1 0" />
        <limit effort="100.0000" lower="-3.1415926536" upper="3.1415926536" velocity="3.0000" />
        <origin xyz="0 0 0" rpy="0 0 0" />
    </joint>
    <joint name="joint_Spine1_Y" type="revolute">
        <parent link="link_Spine1_P" />
        <child link="link_Spine1_Y" />
        <axis xyz="0 0 1" />
        <limit effort="100.0000" lower="-3.1415926536" upper="3.1415926536" velocity="3.0000" />
        <origin xyz="0 0 0" rpy="0 0 0" />
    </joint>
    <joint name="joint_Spine2_R" type="revolute">
        <parent link="link_Spine1_Y" />
        <child link="link_Spine2_R" />
        <axis xyz="1 0 0" />
        <limit effort="100.0000" lower="-3.1415926536" upper="3.1415926536" velocity="3.0000" />
        <origin rpy="0.0 0.0 0.0" xyz="0.0 0.0 0.127600" />
    </joint>
    <joint name="joint_Spine2_P" type="revolute">
        <parent link="link_Spine2_R" />
        <child link="link_Spine2_P" />
        <axis xyz="0 1 0" />
        <limit effort="100.0000" lower="-3.1415926536" upper="3.1415926536" velocity="3.0000" />
        <origin xyz="0 0 0" rpy="0 0 0" />
    </joint>
    <joint name="joint_Spine2_Y" type="revolute">
        <parent link="link_Spine2_P" />
        <child link="link_Spine2_Y" />
        <axis xyz="0 0 1" />
        <limit effort="100.0000" lower="-3.1415926536" upper="3.1415926536" velocity="3.0000" />
        <origin xyz="0 0 0" rpy="0 0 0" />
    </joint>
    <joint name="joint_Neck_R" type="revolute">
        <parent link="link_Spine2_Y" />
        <child link="link_Neck_R" />
        <axis xyz="1 0 0" />
        <limit effort="100.0000" lower="-3.1415926536" upper="3.1415926536" velocity="3.0000" />
        <origin rpy="0.0 0.0 0.0" xyz="0.0 0.0 0.191400" />
    </joint>
    <joint name="joint_Neck_P" type="revolute">
        <parent link="link_Neck_R" />
        <child link="link_Neck_P" />
        <axis xyz="0 1 0" />
        <limit effort="100.0000" lower="-3.1415926536" upper="3.1415926536" velocity="3.0000" />
        <origin xyz="0 0 0" rpy="0 0 0" />
    </joint>
    <joint name="joint_Neck_Y" type="revolute">
        <parent link="link_Neck_P" />
        <child link="link_Neck_Y" />
        <axis xyz="0 0 1" />
        <limit effort="100.0000" lower="-3.1415926536" upper="3.1415926536" velocity="3.0000" />
        <origin xyz="0 0 0" rpy="0 0 0" />
    </joint>
    <joint name="joint_Neck1_R" type="revolute">
        <parent link="link_Neck_Y" />
        <child link="link_Neck1_R" />
        <axis xyz="1 0 0" />
        <limit effort="100.0000" lower="-3.1415926536" upper="3.1415926536" velocity="3.0000" />
        <origin rpy="0.0 0.0 0.0" xyz="0.0 0.0 0.042500" />
    </joint>
    <joint name="joint_Neck1_P" type="revolute">
        <parent link="link_Neck1_R" />
        <child link="link_Neck1_P" />
        <axis xyz="0 1 0" />
        <limit effort="100.0000" lower="-3.1415926536" upper="3.1415926536" velocity="3.0000" />
        <origin xyz="0 0 0" rpy="0 0 0" />
    </joint>
    <joint name="joint_Neck1_Y" type="revolute">
        <parent link="link_Neck1_P" />
        <child link="link_Neck1_Y" />
        <axis xyz="0 0 1" />
        <limit effort="100.0000" lower="-3.1415926536" upper="3.1415926536" velocity="3.0000" />
        <origin xyz="0 0 0" rpy="0 0 0" />
    </joint>
    <joint name="joint_Head_R" type="revolute">
        <parent link="link_Neck1_Y" />
        <child link="link_Head_R" />
        <axis xyz="1 0 0" />
        <limit effort="100.0000" lower="-3.1415926536" upper="3.1415926536" velocity="3.0000" />
        <origin rpy="0.0 0.0 0.0" xyz="0.0 0.0 0.042500" />
    </joint>
    <joint name="joint_Head_P" type="revolute">
        <parent link="link_Head_R" />
        <child link="link_Head_P" />
        <axis xyz="0 1 0" />
        <limit effort="100.0000" lower="-3.1415926536" upper="3.1415926536" velocity="3.0000" />
        <origin xyz="0 0 0" rpy="0 0 0" />
    </joint>
    <joint name="joint_Head_Y" type="revolute">
        <parent link="link_Head_P" />
        <child link="link_Head_Y" />
        <axis xyz="0 0 1" />
        <limit effort="100.0000" lower="-3.1415926536" upper="3.1415926536" velocity="3.0000" />
        <origin xyz="0 0 0" rpy="0 0 0" />
    </joint>
    <joint name="joint_RightShoulder_R" type="revolute">
        <parent link="link_Spine2_Y" />
        <child link="link_RightShoulder_R" />
        <axis xyz="1 0 0" />
        <limit effort="100.0000" lower="-3.1415926536" upper="3.1415926536" velocity="3.0000" />
        <origin rpy="0.0 0.0 0" xyz="0.029000 0.0 0.133400" />
    </joint>
    <joint name="joint_RightShoulder_P" type="revolute">
        <parent link="link_RightShoulder_R" />
        <child link="link_RightShoulder_P" />
        <axis xyz="0 1 0" />
        <limit effort="100.0000" lower="-3.1415926536" upper="3.1415926536" velocity="3.0000" />
        <origin xyz="0 0 0" rpy="0 0 0" />
    </joint>
    <joint name="joint_RightShoulder_Y" type="revolute">
        <parent link="link_RightShoulder_P" />
        <child link="link_RightShoulder_Y" />
        <axis xyz="0 0 1" />
        <limit effort="100.0000" lower="-3.1415926536" upper="3.1415926536" velocity="3.0000" />
        <origin xyz="0 0 0" rpy="0 0 0" />
    </joint>
    <joint name="joint_RightArm_R" type="revolute">
        <parent link="link_RightShoulder_Y" />
        <child link="link_RightArm_R" />
        <axis xyz="1 0 0" />
        <limit effort="100.0000" lower="-3.1415926536" upper="3.1415926536" velocity="3.0000" />
        <origin rpy="0.0 0.0 0.0" xyz="0.161000 0.0 0.0" />
    </joint>
    <joint name="joint_RightArm_P" type="revolute">
        <parent link="link_RightArm_R" />
        <child link="link_RightArm_P" />
        <axis xyz="0 1 0" />
        <limit effort="100.0000" lower="-3.1415926536" upper="3.1415926536" velocity="3.0000" />
        <origin xyz="0 0 0" rpy="0 0 0" />
    </joint>
    <joint name="joint_RightArm_Y" type="revolute">
        <parent link="link_RightArm_P" />
        <child link="link_RightArm_Y" />
        <axis xyz="0 0 1" />
        <limit effort="100.0000" lower="-3.1415926536" upper="3.1415926536" velocity="3.0000" />
        <origin xyz="0 0 0" rpy="0 0 0" />
    </joint>
    <joint name="joint_RightForeArm_R" type="revolute">
        <parent link="link_RightArm_Y" />
        <child link="link_RightForeArm_R" />
        <axis xyz="1 0 0" />
        <limit effort="100.0000" lower="-3.1415926536" upper="3.1415926536" velocity="3.0000" />
        <origin rpy="0.0 0.0 0.0" xyz="0.0 0.0 -0.280000" />
    </joint>
    <joint name="joint_RightForeArm_P" type="revolute">
        <parent link="link_RightForeArm_R" />
        <child link="link_RightForeArm_P" />
        <axis xyz="0 1 0" />
        <limit effort="100.0000" lower="-3.1415926536" upper="3.1415926536" velocity="3.0000" />
        <origin xyz="0 0 0" rpy="0 0 0" />
    </joint>
    <joint name="joint_RightForeArm_Y" type="revolute">
        <parent link="link_RightForeArm_P" />
        <child link="link_RightForeArm_Y" />
        <axis xyz="0 0 1" />
        <limit effort="100.0000" lower="-3.1415926536" upper="3.1415926536" velocity="3.0000" />
        <origin xyz="0 0 0" rpy="0 0 0" />
    </joint>
    <joint name="joint_RightHand_R" type="revolute">
        <parent link="link_RightForeArm_Y" />
        <child link="link_RightHand_R" />
        <axis xyz="1 0 0" />
        <limit effort="100.0000" lower="-3.1415926536" upper="3.1415926536" velocity="3.0000" />
        <origin rpy="0 0 0" xyz="0.0 0.0 -0.260000" />
    </joint>
    <joint name="joint_RightHand_P" type="revolute">
        <parent link="link_RightHand_R" />
        <child link="link_RightHand_P" />
        <axis xyz="0 1 0" />
        <limit effort="100.0000" lower="-3.1415926536" upper="3.1415926536" velocity="3.0000" />
        <origin xyz="0 0 0" rpy="0 0 0" />
    </joint>
    <joint name="joint_RightHand_Y" type="revolute">
        <parent link="link_RightHand_P" />
        <child link="link_RightHand_Y" />
        <axis xyz="0 0 1" />
        <limit effort="100.0000" lower="-3.1415926536" upper="3.1415926536" velocity="3.0000" />
        <origin xyz="0 0 0" rpy="0 0 0" />
    </joint>
    <joint name="joint_RightHandThumb1_R" type="revolute">
        <parent link="link_RightHand_Y" />
        <child link="link_RightHandThumb1_R" />
        <axis xyz="1 0 0" />
        <limit effort="100.0000" lower="-3.1415926536" upper="3.1415926536" velocity="3.0000" />
        <origin rpy="0 0 0" xyz="-0.002290 0.020847 -0.024347" />
    </joint>
    <joint name="joint_RightHandThumb1_P" type="revolute">
        <parent link="link_RightHandThumb1_R" />
        <child link="link_RightHandThumb1_P" />
        <axis xyz="0 1 0" />
        <limit effort="100.0000" lower="-3.1415926536" upper="3.1415926536" velocity="3.0000" />
        <origin xyz="0 0 0" rpy="0 0 0" />
    </joint>
    <joint name="joint_RightHandThumb1_Y" type="revolute">
        <parent link="link_RightHandThumb1_P" />
        <child link="link_RightHandThumb1_Y" />
        <axis xyz="0 0 1" />
        <limit effort="100.0000" lower="-3.1415926536" upper="3.1415926536" velocity="3.0000" />
        <origin xyz="0 0 0" rpy="0 0 0" />
    </joint>
    <joint name="joint_RightHandThumb2_R" type="revolute">
        <parent link="link_RightHandThumb1_Y" />
        <child link="link_RightHandThumb2_R" />
        <axis xyz="1 0 0" />
        <limit effort="100.0000" lower="-3.1415926536" upper="3.1415926536" velocity="3.0000" />
        <origin rpy="0 0 0" xyz="0.0 0.0 -0.038720" />
    </joint>
    <joint name="joint_RightHandThumb2_P" type="revolute">
        <parent link="link_RightHandThumb2_R" />
        <child link="link_RightHandThumb2_P" />
        <axis xyz="0 1 0" />
        <limit effort="100.0000" lower="-3.1415926536" upper="3.1415926536" velocity="3.0000" />
        <origin xyz="0 0 0" rpy="0 0 0" />
    </joint>
    <joint name="joint_RightHandThumb2_Y" type="revolute">
        <parent link="link_RightHandThumb2_P" />
        <child link="link_RightHandThumb2_Y" />
        <axis xyz="0 0 1" />
        <limit effort="100.0000" lower="-3.1415926536" upper="3.1415926536" velocity="3.0000" />
        <origin xyz="0 0 0" rpy="0 0 0" />
    </joint>
    <joint name="joint_RightHandThumb3_R" type="revolute">
        <parent link="link_RightHandThumb2_Y" />
        <child link="link_RightHandThumb3_R" />
        <axis xyz="1 0 0" />
        <limit effort="100.0000" lower="-3.1415926536" upper="3.1415926536" velocity="3.0000" />
        <origin rpy="0 0 0" xyz="0.0 0.0 -0.026900" />
    </joint>
    <joint name="joint_RightHandThumb3_P" type="revolute">
        <parent link="link_RightHandThumb3_R" />
        <child link="link_RightHandThumb3_P" />
        <axis xyz="0 1 0" />
        <limit effort="100.0000" lower="-3.1415926536" upper="3.1415926536" velocity="3.0000" />
        <origin xyz="0 0 0" rpy="0 0 0" />
    </joint>
    <joint name="joint_RightHandThumb3_Y" type="revolute">
        <parent link="link_RightHandThumb3_P" />
        <child link="link_RightHandThumb3_Y" />
        <axis xyz="0 0 1" />
        <limit effort="100.0000" lower="-3.1415926536" upper="3.1415926536" velocity="3.0000" />
        <origin xyz="0 0 0" rpy="0 0 0" />
    </joint>
    <joint name="joint_RightInHandIndex_R" type="revolute">
        <parent link="link_RightHand_Y" />
        <child link="link_RightInHandIndex_R" />
        <axis xyz="1 0 0" />
        <limit effort="100.0000" lower="-3.1415926536" upper="3.1415926536" velocity="3.0000" />
        <origin rpy="0 0 0" xyz="0.004337 0.011103 -0.038311" />
    </joint>
    <joint name="joint_RightInHandIndex_P" type="revolute">
        <parent link="link_RightInHandIndex_R" />
        <child link="link_RightInHandIndex_P" />
        <axis xyz="0 1 0" />
        <limit effort="100.0000" lower="-3.1415926536" upper="3.1415926536" velocity="3.0000" />
        <origin xyz="0 0 0" rpy="0 0 0" />
    </joint>
    <joint name="joint_RightInHandIndex_Y" type="revolute">
        <parent link="link_RightInHandIndex_P" />
        <child link="link_RightInHandIndex_Y" />
        <axis xyz="0 0 1" />
        <limit effort="100.0000" lower="-3.1415926536" upper="3.1415926536" velocity="3.0000" />
        <origin xyz="0 0 0" rpy="0 0 0" />
    </joint>
    <joint name="joint_RightHandIndex1_R" type="revolute">
        <parent link="link_RightInHandIndex_Y" />
        <child link="link_RightHandIndex1_R" />
        <axis xyz="1 0 0" />
        <limit effort="100.0000" lower="-3.1415926536" upper="3.1415926536" velocity="3.0000" />
        <origin rpy="0 0 0" xyz="0.0 -0.0 -0.055856" />
    </joint>
    <joint name="joint_RightHandIndex1_P" type="revolute">
        <parent link="link_RightHandIndex1_R" />
        <child link="link_RightHandIndex1_P" />
        <axis xyz="0 1 0" />
        <limit effort="100.0000" lower="-3.1415926536" upper="3.1415926536" velocity="3.0000" />
        <origin xyz="0 0 0" rpy="0 0 0" />
    </joint>
    <joint name="joint_RightHandIndex1_Y" type="revolute">
        <parent link="link_RightHandIndex1_P" />
        <child link="link_RightHandIndex1_Y" />
        <axis xyz="0 0 1" />
        <limit effort="100.0000" lower="-3.1415926536" upper="3.1415926536" velocity="3.0000" />
        <origin xyz="0 0 0" rpy="0 0 0" />
    </joint>
    <joint name="joint_RightHandIndex2_R" type="revolute">
        <parent link="link_RightHandIndex1_Y" />
        <child link="link_RightHandIndex2_R" />
        <axis xyz="1 0 0" />
        <limit effort="100.0000" lower="-3.1415926536" upper="3.1415926536" velocity="3.0000" />
        <origin rpy="0.0 0.0 -0.0" xyz="0.0 -0.0 -0.038060" />
    </joint>
    <joint name="joint_RightHandIndex2_P" type="revolute">
        <parent link="link_RightHandIndex2_R" />
        <child link="link_RightHandIndex2_P" />
        <axis xyz="0 1 0" />
        <limit effort="100.0000" lower="-3.1415926536" upper="3.1415926536" velocity="3.0000" />
        <origin xyz="0 0 0" rpy="0 0 0" />
    </joint>
    <joint name="joint_RightHandIndex2_Y" type="revolute">
        <parent link="link_RightHandIndex2_P" />
        <child link="link_RightHandIndex2_Y" />
        <axis xyz="0 0 1" />
        <limit effort="100.0000" lower="-3.1415926536" upper="3.1415926536" velocity="3.0000" />
        <origin xyz="0 0 0" rpy="0 0 0" />
    </joint>
    <joint name="joint_RightHandIndex3_R" type="revolute">
        <parent link="link_RightHandIndex2_Y" />
        <child link="link_RightHandIndex3_R" />
        <axis xyz="1 0 0" />
        <limit effort="100.0000" lower="-3.1415926536" upper="3.1415926536" velocity="3.0000" />
        <origin rpy="0.0 0.0 0.0" xyz="0.0 -0.0 -0.021580" />
    </joint>
    <joint name="joint_RightHandIndex3_P" type="revolute">
        <parent link="link_RightHandIndex3_R" />
        <child link="link_RightHandIndex3_P" />
        <axis xyz="0 1 0" />
        <limit effort="100.0000" lower="-3.1415926536" upper="3.1415926536" velocity="3.0000" />
        <origin xyz="0 0 0" rpy="0 0 0" />
    </joint>
    <joint name="joint_RightHandIndex3_Y" type="revolute">
        <parent link="link_RightHandIndex3_P" />
        <child link="link_RightHandIndex3_Y" />
        <axis xyz="0 0 1" />
        <limit effort="100.0000" lower="-3.1415926536" upper="3.1415926536" velocity="3.0000" />
        <origin xyz="0 0 0" rpy="0 0 0" />
    </joint>
    <joint name="joint_RightInHandMiddle_R" type="revolute">
        <parent link="link_RightHand_Y" />
        <child link="link_RightInHandMiddle_R" />
        <axis xyz="1 0 0" />
        <limit effort="100.0000" lower="-3.1415926536" upper="3.1415926536" velocity="3.0000" />
        <origin rpy="0 0 0" xyz="0.001414 -0.001419 -0.036789" />
    </joint>
    <joint name="joint_RightInHandMiddle_P" type="revolute">
        <parent link="link_RightInHandMiddle_R" />
        <child link="link_RightInHandMiddle_P" />
        <axis xyz="0 1 0" />
        <limit effort="100.0000" lower="-3.1415926536" upper="3.1415926536" velocity="3.0000" />
        <origin xyz="0 0 0" rpy="0 0 0" />
    </joint>
    <joint name="joint_RightInHandMiddle_Y" type="revolute">
        <parent link="link_RightInHandMiddle_P" />
        <child link="link_RightInHandMiddle_Y" />
        <axis xyz="0 0 1" />
        <limit effort="100.0000" lower="-3.1415926536" upper="3.1415926536" velocity="3.0000" />
        <origin xyz="0 0 0" rpy="0 0 0" />
    </joint>
    <joint name="joint_RightHandMiddle1_R" type="revolute">
        <parent link="link_RightInHandMiddle_Y" />
        <child link="link_RightHandMiddle1_R" />
        <axis xyz="1 0 0" />
        <limit effort="100.0000" lower="-3.1415926536" upper="3.1415926536" velocity="3.0000" />
        <origin rpy="0 0 0" xyz="0.0 0.0 -0.054517" />
    </joint>
    <joint name="joint_RightHandMiddle1_P" type="revolute">
        <parent link="link_RightHandMiddle1_R" />
        <child link="link_RightHandMiddle1_P" />
        <axis xyz="0 1 0" />
        <limit effort="100.0000" lower="-3.1415926536" upper="3.1415926536" velocity="3.0000" />
        <origin xyz="0 0 0" rpy="0 0 0" />
    </joint>
    <joint name="joint_RightHandMiddle1_Y" type="revolute">
        <parent link="link_RightHandMiddle1_P" />
        <child link="link_RightHandMiddle1_Y" />
        <axis xyz="0 0 1" />
        <limit effort="100.0000" lower="-3.1415926536" upper="3.1415926536" velocity="3.0000" />
        <origin xyz="0 0 0" rpy="0 0 0" />
    </joint>
    <joint name="joint_RightHandMiddle2_R" type="revolute">
        <parent link="link_RightHandMiddle1_Y" />
        <child link="link_RightHandMiddle2_R" />
        <axis xyz="1 0 0" />
        <limit effort="100.0000" lower="-3.1415926536" upper="3.1415926536" velocity="3.0000" />
        <origin rpy="0.0 0.0 0.0" xyz="0.0 -0.0 -0.041530" />
    </joint>
    <joint name="joint_RightHandMiddle2_P" type="revolute">
        <parent link="link_RightHandMiddle2_R" />
        <child link="link_RightHandMiddle2_P" />
        <axis xyz="0 1 0" />
        <limit effort="100.0000" lower="-3.1415926536" upper="3.1415926536" velocity="3.0000" />
        <origin xyz="0 0 0" rpy="0 0 0" />
    </joint>
    <joint name="joint_RightHandMiddle2_Y" type="revolute">
        <parent link="link_RightHandMiddle2_P" />
        <child link="link_RightHandMiddle2_Y" />
        <axis xyz="0 0 1" />
        <limit effort="100.0000" lower="-3.1415926536" upper="3.1415926536" velocity="3.0000" />
        <origin xyz="0 0 0" rpy="0 0 0" />
    </joint>
    <joint name="joint_RightHandMiddle3_R" type="revolute">
        <parent link="link_RightHandMiddle2_Y" />
        <child link="link_RightHandMiddle3_R" />
        <axis xyz="1 0 0" />
        <limit effort="100.0000" lower="-3.1415926536" upper="3.1415926536" velocity="3.0000" />
        <origin rpy="0.0 0.0 0.0" xyz="0.0 -0.0 -0.026030" />
    </joint>
    <joint name="joint_RightHandMiddle3_P" type="revolute">
        <parent link="link_RightHandMiddle3_R" />
        <child link="link_RightHandMiddle3_P" />
        <axis xyz="0 1 0" />
        <limit effort="100.0000" lower="-3.1415926536" upper="3.1415926536" velocity="3.0000" />
        <origin xyz="0 0 0" rpy="0 0 0" />
    </joint>
    <joint name="joint_RightHandMiddle3_Y" type="revolute">
        <parent link="link_RightHandMiddle3_P" />
        <child link="link_RightHandMiddle3_Y" />
        <axis xyz="0 0 1" />
        <limit effort="100.0000" lower="-3.1415926536" upper="3.1415926536" velocity="3.0000" />
        <origin xyz="0 0 0" rpy="0 0 0" />
    </joint>
    <joint name="joint_RightInHandRing_R" type="revolute">
        <parent link="link_RightHand_Y" />
        <child link="link_RightInHandRing_R" />
        <axis xyz="1 0 0" />
        <limit effort="100.0000" lower="-3.1415926536" upper="3.1415926536" velocity="3.0000" />
        <origin rpy="0 0 0" xyz="-0.000343 -0.010250 -0.034368" />
    </joint>
    <joint name="joint_RightInHandRing_P" type="revolute">
        <parent link="link_RightInHandRing_R" />
        <child link="link_RightInHandRing_P" />
        <axis xyz="0 1 0" />
        <limit effort="100.0000" lower="-3.1415926536" upper="3.1415926536" velocity="3.0000" />
        <origin xyz="0 0 0" rpy="0 0 0" />
    </joint>
    <joint name="joint_RightInHandRing_Y" type="revolute">
        <parent link="link_RightInHandRing_P" />
        <child link="link_RightInHandRing_Y" />
        <axis xyz="0 0 1" />
        <limit effort="100.0000" lower="-3.1415926536" upper="3.1415926536" velocity="3.0000" />
        <origin xyz="0 0 0" rpy="0 0 0" />
    </joint>
    <joint name="joint_RightHandRing1_R" type="revolute">
        <parent link="link_RightInHandRing_Y" />
        <child link="link_RightHandRing1_R" />
        <axis xyz="1 0 0" />
        <limit effort="100.0000" lower="-3.1415926536" upper="3.1415926536" velocity="3.0000" />
        <origin rpy="0 0 0" xyz="0.0 0.0 -0.048991" />
    </joint>
    <joint name="joint_RightHandRing1_P" type="revolute">
        <parent link="link_RightHandRing1_R" />
        <child link="link_RightHandRing1_P" />
        <axis xyz="0 1 0" />
        <limit effort="100.0000" lower="-3.1415926536" upper="3.1415926536" velocity="3.0000" />
        <origin xyz="0 0 0" rpy="0 0 0" />
    </joint>
    <joint name="joint_RightHandRing1_Y" type="revolute">
        <parent link="link_RightHandRing1_P" />
        <child link="link_RightHandRing1_Y" />
        <axis xyz="0 0 1" />
        <limit effort="100.0000" lower="-3.1415926536" upper="3.1415926536" velocity="3.0000" />
        <origin xyz="0 0 0" rpy="0 0 0" />
    </joint>
    <joint name="joint_RightHandRing2_R" type="revolute">
        <parent link="link_RightHandRing1_Y" />
        <child link="link_RightHandRing2_R" />
        <axis xyz="1 0 0" />
        <limit effort="100.0000" lower="-3.1415926536" upper="3.1415926536" velocity="3.0000" />
        <origin rpy="0.0 0.0 0.0" xyz="0.0 -0.0 -0.036190" />
    </joint>
    <joint name="joint_RightHandRing2_P" type="revolute">
        <parent link="link_RightHandRing2_R" />
        <child link="link_RightHandRing2_P" />
        <axis xyz="0 1 0" />
        <limit effort="100.0000" lower="-3.1415926536" upper="3.1415926536" velocity="3.0000" />
        <origin xyz="0 0 0" rpy="0 0 0" />
    </joint>
    <joint name="joint_RightHandRing2_Y" type="revolute">
        <parent link="link_RightHandRing2_P" />
        <child link="link_RightHandRing2_Y" />
        <axis xyz="0 0 1" />
        <limit effort="100.0000" lower="-3.1415926536" upper="3.1415926536" velocity="3.0000" />
        <origin xyz="0 0 0" rpy="0 0 0" />
    </joint>
    <joint name="joint_RightHandRing3_R" type="revolute">
        <parent link="link_RightHandRing2_Y" />
        <child link="link_RightHandRing3_R" />
        <axis xyz="1 0 0" />
        <limit effort="100.0000" lower="-3.1415926536" upper="3.1415926536" velocity="3.0000" />
        <origin rpy="0.0 0.0 0.0" xyz="0.0 -0.0 -0.025110" />
    </joint>
    <joint name="joint_RightHandRing3_P" type="revolute">
        <parent link="link_RightHandRing3_R" />
        <child link="link_RightHandRing3_P" />
        <axis xyz="0 1 0" />
        <limit effort="100.0000" lower="-3.1415926536" upper="3.1415926536" velocity="3.0000" />
        <origin xyz="0 0 0" rpy="0 0 0" />
    </joint>
    <joint name="joint_RightHandRing3_Y" type="revolute">
        <parent link="link_RightHandRing3_P" />
        <child link="link_RightHandRing3_Y" />
        <axis xyz="0 0 1" />
        <limit effort="100.0000" lower="-3.1415926536" upper="3.1415926536" velocity="3.0000" />
        <origin xyz="0 0 0" rpy="0 0 0" />
    </joint>
    <joint name="joint_RightInHandPinky_R" type="revolute">
        <parent link="link_RightHand_Y" />
        <child link="link_RightInHandPinky_R" />
        <axis xyz="1 0 0" />
        <limit effort="100.0000" lower="-3.1415926536" upper="3.1415926536" velocity="3.0000" />
        <origin rpy="0 0 0" xyz="-0.003119 -0.020281 -0.029462" />
    </joint>
    <joint name="joint_RightInHandPinky_P" type="revolute">
        <parent link="link_RightInHandPinky_R" />
        <child link="link_RightInHandPinky_P" />
        <axis xyz="0 1 0" />
        <limit effort="100.0000" lower="-3.1415926536" upper="3.1415926536" velocity="3.0000" />
        <origin xyz="0 0 0" rpy="0 0 0" />
    </joint>
    <joint name="joint_RightInHandPinky_Y" type="revolute">
        <parent link="link_RightInHandPinky_P" />
        <child link="link_RightInHandPinky_Y" />
        <axis xyz="0 0 1" />
        <limit effort="100.0000" lower="-3.1415926536" upper="3.1415926536" velocity="3.0000" />
        <origin xyz="0 0 0" rpy="0 0 0" />
    </joint>
    <joint name="joint_RightHandPinky1_R" type="revolute">
        <parent link="link_RightInHandPinky_Y" />
        <child link="link_RightHandPinky1_R" />
        <axis xyz="1 0 0" />
        <limit effort="100.0000" lower="-3.1415926536" upper="3.1415926536" velocity="3.0000" />
        <origin rpy="0 0 0" xyz="0.0 0.0 -0.045026" />
    </joint>
    <joint name="joint_RightHandPinky1_P" type="revolute">
        <parent link="link_RightHandPinky1_R" />
        <child link="link_RightHandPinky1_P" />
        <axis xyz="0 1 0" />
        <limit effort="100.0000" lower="-3.1415926536" upper="3.1415926536" velocity="3.0000" />
        <origin xyz="0 0 0" rpy="0 0 0" />
    </joint>
    <joint name="joint_RightHandPinky1_Y" type="revolute">
        <parent link="link_RightHandPinky1_P" />
        <child link="link_RightHandPinky1_Y" />
        <axis xyz="0 0 1" />
        <limit effort="100.0000" lower="-3.1415926536" upper="3.1415926536" velocity="3.0000" />
        <origin xyz="0 0 0" rpy="0 0 0" />
    </joint>
    <joint name="joint_RightHandPinky2_R" type="revolute">
        <parent link="link_RightHandPinky1_Y" />
        <child link="link_RightHandPinky2_R" />
        <axis xyz="1 0 0" />
        <limit effort="100.0000" lower="-3.1415926536" upper="3.1415926536" velocity="3.0000" />
        <origin rpy="0.0 0.0 -0.0" xyz="0.0 -0.0 -0.028980" />
    </joint>
    <joint name="joint_RightHandPinky2_P" type="revolute">
        <parent link="link_RightHandPinky2_R" />
        <child link="link_RightHandPinky2_P" />
        <axis xyz="0 1 0" />
        <limit effort="100.0000" lower="-3.1415926536" upper="3.1415926536" velocity="3.0000" />
        <origin xyz="0 0 0" rpy="0 0 0" />
    </joint>
    <joint name="joint_RightHandPinky2_Y" type="revolute">
        <parent link="link_RightHandPinky2_P" />
        <child link="link_RightHandPinky2_Y" />
        <axis xyz="0 0 1" />
        <limit effort="100.0000" lower="-3.1415926536" upper="3.1415926536" velocity="3.0000" />
        <origin xyz="0 0 0" rpy="0 0 0" />
    </joint>
    <joint name="joint_RightHandPinky3_R" type="revolute">
        <parent link="link_RightHandPinky2_Y" />
        <child link="link_RightHandPinky3_R" />
        <axis xyz="1 0 0" />
        <limit effort="100.0000" lower="-3.1415926536" upper="3.1415926536" velocity="3.0000" />
        <origin rpy="0.0 0.0 0.0" xyz="0.0 -0.0 -0.018310" />
    </joint>
    <joint name="joint_RightHandPinky3_P" type="revolute">
        <parent link="link_RightHandPinky3_R" />
        <child link="link_RightHandPinky3_P" />
        <axis xyz="0 1 0" />
        <limit effort="100.0000" lower="-3.1415926536" upper="3.1415926536" velocity="3.0000" />
        <origin xyz="0 0 0" rpy="0 0 0" />
    </joint>
    <joint name="joint_RightHandPinky3_Y" type="revolute">
        <parent link="link_RightHandPinky3_P" />
        <child link="link_RightHandPinky3_Y" />
        <axis xyz="0 0 1" />
        <limit effort="100.0000" lower="-3.1415926536" upper="3.1415926536" velocity="3.0000" />
        <origin xyz="0 0 0" rpy="0 0 0" />
    </joint>
    
    <joint name="joint_RightSkeletonBase" type="fixed">
        <parent link="link_RightHand_Y" />
        <child link="link_RightSkeletonBase" />
        <axis xyz="0 1 0" />
        <limit effort="100.0000" lower="-3.1415926536" upper="3.1415926536" velocity="3.0000" />
        <origin xyz="0.02 0 -0.1" rpy="-1.5707963268 0 -1.5707963268" />
    </joint>
    <joint name="joint_RightMarker" type="fixed">
        <origin xyz="0.0097906 -0.039958 0.0172" rpy="0 0 1.4509" />
    <parent link="link_RightSkeletonBase" />
    <child link="link_RightMarker" />
    <axis xyz="0 0 0" />
  </joint>
    <joint name="joint_RightSkeletonThumb1" type="revolute">
        <origin xyz="-0.049792 -0.067851 -0.030963" rpy="0 -1.3521 0.56972" />
    <parent link="link_RightSkeletonBase" />
    <child link="link_RightSkeletonThumb1" />
    <axis xyz="0 0 1" />
    <limit lower="-3.14" upper="3.14" effort="100" velocity="1" />
  </joint>
    <joint name="joint_RightSkeletonThumb2" type="revolute">
        <origin xyz="0.0026 0.0077279 0.013728" rpy="-0.7854 0 0" />
    <parent link="link_RightSkeletonThumb1" />
    <child link="link_RightSkeletonThumb2" />
    <axis xyz="1 0 0" />
    <limit lower="-3.14" upper="3.14" effort="100" velocity="1" />
  </joint>
    <joint name="joint_RightSkeletonThumb3" type="revolute">
        <origin xyz="0 0.035701 0.054318" rpy="-0.81433 0 0" />
    <parent link="link_RightSkeletonThumb2" />
    <child link="link_RightSkeletonThumb3" />
    <axis xyz="1 0 0" />
    <limit lower="-3.14" upper="3.14" effort="100" velocity="1" />
  </joint>
    <joint name="joint_RightSkeletonThumb4" type="revolute">
        <origin xyz="0 0.031696 0.067973" rpy="1.7453 0 0" />
    <parent link="link_RightSkeletonThumb3" />
    <child link="link_RightSkeletonThumb4" />
    <axis xyz="1 0 0" />
    <limit lower="-3.14" upper="3.14" effort="100" velocity="1" />
  </joint>
    <joint name="joint_RightSkeletonIndex1" type="revolute">
        <origin xyz="-0.022514 0.0027125 -2.2851E-05" rpy="0 -0.2618 -0.1199" />
    <parent link="link_RightSkeletonBase" />
    <child link="link_RightSkeletonIndex1" />
    <axis xyz="0 0 1" />
    <limit lower="-3.14" upper="3.14" effort="0" velocity="0" />
  </joint>
    <joint name="joint_RightSkeletonIndex2" type="revolute">
        <origin xyz="0.0026 0.0077279 0.013728" rpy="-0.7854 0 0" />
    <parent link="link_RightSkeletonIndex1" />
    <child link="link_RightSkeletonIndex2" />
    <axis xyz="1 0 0" />
    <limit lower="-3.14" upper="3.14" effort="0" velocity="0" />
  </joint>
    <joint name="joint_RightSkeletonIndex3" type="revolute">
        <origin xyz="0 0.043889 0.062046" rpy="-0.81433 0 0" />
    <parent link="link_RightSkeletonIndex2" />
    <child link="link_RightSkeletonIndex3" />
    <axis xyz="1 0 0" />
    <limit lower="-3.14" upper="3.14" effort="0" velocity="0" />
  </joint>
    <joint name="joint_RightSkeletonIndex4" type="revolute">
        <origin xyz="0 0.031696 0.067973" rpy="1.7453 0 0" />
    <parent link="link_RightSkeletonIndex3" />
    <child link="link_RightSkeletonIndex4" />
    <axis xyz="1 0 0" />
    <limit lower="-3.14" upper="3.14" effort="0" velocity="0" />
  </joint>
    <joint name="joint_RightSkeletonMiddle1" type="revolute">
        <origin xyz="0 0 0.003" rpy="0 0 -0.1199" />
    <parent link="link_RightSkeletonBase" />
    <child link="link_RightSkeletonMiddle1" />
    <axis xyz="0 0 1" />
    <limit lower="-3.14" upper="3.14" effort="0" velocity="0" />
  </joint>
    <joint name="joint_RightSkeletonMiddle2" type="revolute">
        <origin xyz="0.0026 0.0077279 0.013728" rpy="-0.7854 0 0" />
    <parent link="link_RightSkeletonMiddle1" />
    <child link="link_RightSkeletonMiddle2" />
    <axis xyz="1 0 0" />
    <limit lower="-3.14" upper="3.14" effort="0" velocity="0" />
  </joint>
    <joint name="joint_RightSkeletonMiddle3" type="revolute">
        <origin xyz="0 0.043889 0.062046" rpy="-0.81433 0 0" />
    <parent link="link_RightSkeletonMiddle2" />
    <child link="link_RightSkeletonMiddle3" />
    <axis xyz="1 0 0" />
    <limit lower="-3.14" upper="3.14" effort="0" velocity="0" />
  </joint>
    <joint name="joint_RightSkeletonMiddle4" type="revolute">
        <origin xyz="0 0.031696 0.067973" rpy="1.7453 0 0" />
    <parent link="link_RightSkeletonMiddle3" />
    <child link="link_RightSkeletonMiddle4" />
    <axis xyz="1 0 0" />
    <limit lower="-3.14" upper="3.14" effort="0" velocity="0" />
  </joint>
    <joint name="joint_RightSkeletonRing1" type="revolute">
        <origin xyz="0.020849 -0.002512 0.003" rpy="0 0 -0.1199" />
    <parent link="link_RightSkeletonBase" />
    <child link="link_RightSkeletonRing1" />
    <axis xyz="0 0 1" />
    <limit lower="-3.14" upper="3.14" effort="0" velocity="0" />
  </joint>
    <joint name="joint_RightSkeletonRing2" type="revolute">
        <origin xyz="0.0026 0.0077279 0.013728" rpy="-0.7854 0 0" />
    <parent link="link_RightSkeletonRing1" />
    <child link="link_RightSkeletonRing2" />
    <axis xyz="1 0 0" />
    <limit lower="-3.14" upper="3.14" effort="0" velocity="0" />
  </joint>
    <joint name="joint_RightSkeletonRing3" type="revolute">
        <origin xyz="0 0.043889 0.062046" rpy="-0.81433 0 0" />
    <parent link="link_RightSkeletonRing2" />
    <child link="link_RightSkeletonRing3" />
    <axis xyz="1 0 0" />
    <limit lower="-3.14" upper="3.14" effort="0" velocity="0" />
  </joint>
    <joint name="joint_RightSkeletonRing4" type="revolute">
        <origin xyz="0 0.031696 0.067973" rpy="1.7453 0 0" />
    <parent link="link_RightSkeletonRing3" />
    <child link="link_RightSkeletonRing4" />
    <axis xyz="1 0 0" />
    <limit lower="-3.14" upper="3.14" effort="0" velocity="0" />
  </joint>
    <joint name="joint_RightSkeletonPinky1" type="revolute">
        <origin xyz="0.043444 -0.0052343 0.00062026" rpy="0 0.17453 -0.1199" />
    <parent link="link_RightSkeletonBase" />
    <child link="link_RightSkeletonPinky1" />
    <axis xyz="0 0 1" />
    <limit lower="-3.14" upper="3.14" effort="0" velocity="0" />
  </joint>
    <joint name="joint_RightSkeletonPinky2" type="revolute">
        <origin xyz="0.0026 0.0077279 0.013728" rpy="-0.7854 0 0" />
    <parent link="link_RightSkeletonPinky1" />
    <child link="link_RightSkeletonPinky2" />
    <axis xyz="1 0 0" />
    <limit lower="-3.14" upper="3.14" effort="0" velocity="0" />
  </joint>
    <joint name="joint_RightSkeletonPinky3" type="revolute">
        <origin xyz="0 0.043889 0.062046" rpy="-0.81433 0 0" />
    <parent link="link_RightSkeletonPinky2" />
    <child link="link_RightSkeletonPinky3" />
    <axis xyz="1 0 0" />
    <limit lower="-3.14" upper="3.14" effort="0" velocity="0" />
  </joint>
    <joint name="joint_RightSkeletonPinky4" type="revolute">
        <origin xyz="0 0.031696 0.067973" rpy="1.7453 0 0" />
    <parent link="link_RightSkeletonPinky3" />
    <child link="link_RightSkeletonPinky4" />
    <axis xyz="1 0 0" />
    <limit lower="-3.14" upper="3.14" effort="0" velocity="0" />
  </joint>
    <joint name="joint_LeftShoulder_R" type="revolute">
        <parent link="link_Spine2_Y" />
        <child link="link_LeftShoulder_R" />
        <axis xyz="1 0 0" />
        <limit effort="100.0000" lower="-3.1415926536" upper="3.1415926536" velocity="3.0000" />
        <origin rpy="0.0 0.0 0" xyz="-0.029000 0.0 0.133400" />
    </joint>
    <joint name="joint_LeftShoulder_P" type="revolute">
        <parent link="link_LeftShoulder_R" />
        <child link="link_LeftShoulder_P" />
        <axis xyz="0 1 0" />
        <limit effort="100.0000" lower="-3.1415926536" upper="3.1415926536" velocity="3.0000" />
        <origin xyz="0 0 0" rpy="0 0 0" />
    </joint>
    <joint name="joint_LeftShoulder_Y" type="revolute">
        <parent link="link_LeftShoulder_P" />
        <child link="link_LeftShoulder_Y" />
        <axis xyz="0 0 1" />
        <limit effort="100.0000" lower="-3.1415926536" upper="3.1415926536" velocity="3.0000" />
        <origin xyz="0 0 0" rpy="0 0 0" />
    </joint>
    <joint name="joint_LeftArm_R" type="revolute">
        <parent link="link_LeftShoulder_Y" />
        <child link="link_LeftArm_R" />
        <axis xyz="1 0 0" />
        <limit effort="100.0000" lower="-3.1415926536" upper="3.1415926536" velocity="3.0000" />
        <origin rpy="0.0 0.0 0.0" xyz="-0.161000 0.0 0.0" />
    </joint>
    <joint name="joint_LeftArm_P" type="revolute">
        <parent link="link_LeftArm_R" />
        <child link="link_LeftArm_P" />
        <axis xyz="0 1 0" />
        <limit effort="100.0000" lower="-3.1415926536" upper="3.1415926536" velocity="3.0000" />
        <origin xyz="0 0 0" rpy="0 0 0" />
    </joint>
    <joint name="joint_LeftArm_Y" type="revolute">
        <parent link="link_LeftArm_P" />
        <child link="link_LeftArm_Y" />
        <axis xyz="0 0 1" />
        <limit effort="100.0000" lower="-3.1415926536" upper="3.1415926536" velocity="3.0000" />
        <origin xyz="0 0 0" rpy="0 0 0" />
    </joint>
    <joint name="joint_LeftForeArm_R" type="revolute">
        <parent link="link_LeftArm_Y" />
        <child link="link_LeftForeArm_R" />
        <axis xyz="1 0 0" />
        <limit effort="100.0000" lower="-3.1415926536" upper="3.1415926536" velocity="3.0000" />
        <origin rpy="0.0 0.0 0.0" xyz="0.0 0.0 -0.280000" />
    </joint>
    <joint name="joint_LeftForeArm_P" type="revolute">
        <parent link="link_LeftForeArm_R" />
        <child link="link_LeftForeArm_P" />
        <axis xyz="0 1 0" />
        <limit effort="100.0000" lower="-3.1415926536" upper="3.1415926536" velocity="3.0000" />
        <origin xyz="0 0 0" rpy="0 0 0" />
    </joint>
    <joint name="joint_LeftForeArm_Y" type="revolute">
        <parent link="link_LeftForeArm_P" />
        <child link="link_LeftForeArm_Y" />
        <axis xyz="0 0 1" />
        <limit effort="100.0000" lower="-3.1415926536" upper="3.1415926536" velocity="3.0000" />
        <origin xyz="0 0 0" rpy="0 0 0" />
    </joint>
    <joint name="joint_LeftHand_R" type="revolute">
        <parent link="link_LeftForeArm_Y" />
        <child link="link_LeftHand_R" />
        <axis xyz="1 0 0" />
        <limit effort="100.0000" lower="-3.1415926536" upper="3.1415926536" velocity="3.0000" />
        <origin rpy="0 0 0" xyz="0.0 0.0 -0.260000" />
    </joint>
    <joint name="joint_LeftHand_P" type="revolute">
        <parent link="link_LeftHand_R" />
        <child link="link_LeftHand_P" />
        <axis xyz="0 1 0" />
        <limit effort="100.0000" lower="-3.1415926536" upper="3.1415926536" velocity="3.0000" />
        <origin xyz="0 0 0" rpy="0 0 0" />
    </joint>
    <joint name="joint_LeftHand_Y" type="revolute">
        <parent link="link_LeftHand_P" />
        <child link="link_LeftHand_Y" />
        <axis xyz="0 0 1" />
        <limit effort="100.0000" lower="-3.1415926536" upper="3.1415926536" velocity="3.0000" />
        <origin xyz="0 0 0" rpy="0 0 0" />
    </joint>
    <joint name="joint_LeftHandThumb1_R" type="revolute">
        <parent link="link_LeftHand_Y" />
        <child link="link_LeftHandThumb1_R" />
        <axis xyz="1 0 0" />
        <limit effort="100.0000" lower="-3.1415926536" upper="3.1415926536" velocity="3.0000" />
        <origin rpy="0 0 0" xyz="0.002290  0.020847 -0.024347" />
    </joint>
    <joint name="joint_LeftHandThumb1_P" type="revolute">
        <parent link="link_LeftHandThumb1_R" />
        <child link="link_LeftHandThumb1_P" />
        <axis xyz="0 1 0" />
        <limit effort="100.0000" lower="-3.1415926536" upper="3.1415926536" velocity="3.0000" />
        <origin xyz="0 0 0" rpy="0 0 0" />
    </joint>
    <joint name="joint_LeftHandThumb1_Y" type="revolute">
        <parent link="link_LeftHandThumb1_P" />
        <child link="link_LeftHandThumb1_Y" />
        <axis xyz="0 0 1" />
        <limit effort="100.0000" lower="-3.1415926536" upper="3.1415926536" velocity="3.0000" />
        <origin xyz="0 0 0" rpy="0 0 0" />
    </joint>
    <joint name="joint_LeftHandThumb2_R" type="revolute">
        <parent link="link_LeftHandThumb1_Y" />
        <child link="link_LeftHandThumb2_R" />
        <axis xyz="1 0 0" />
        <limit effort="100.0000" lower="-3.1415926536" upper="3.1415926536" velocity="3.0000" />
        <origin rpy="0.0 0.0 0.0" xyz="0.0 0.0 -0.038720" />
    </joint>
    <joint name="joint_LeftHandThumb2_P" type="revolute">
        <parent link="link_LeftHandThumb2_R" />
        <child link="link_LeftHandThumb2_P" />
        <axis xyz="0 1 0" />
        <limit effort="100.0000" lower="-3.1415926536" upper="3.1415926536" velocity="3.0000" />
        <origin xyz="0 0 0" rpy="0 0 0" />
    </joint>
    <joint name="joint_LeftHandThumb2_Y" type="revolute">
        <parent link="link_LeftHandThumb2_P" />
        <child link="link_LeftHandThumb2_Y" />
        <axis xyz="0 0 1" />
        <limit effort="100.0000" lower="-3.1415926536" upper="3.1415926536" velocity="3.0000" />
        <origin xyz="0 0 0" rpy="0 0 0" />
    </joint>
    <joint name="joint_LeftHandThumb3_R" type="revolute">
        <parent link="link_LeftHandThumb2_Y" />
        <child link="link_LeftHandThumb3_R" />
        <axis xyz="1 0 0" />
        <limit effort="100.0000" lower="-3.1415926536" upper="3.1415926536" velocity="3.0000" />
        <origin rpy="0.0 0.0 0.0" xyz="0.0 0.0 -0.026900" />
    </joint>
    <joint name="joint_LeftHandThumb3_P" type="revolute">
        <parent link="link_LeftHandThumb3_R" />
        <child link="link_LeftHandThumb3_P" />
        <axis xyz="0 1 0" />
        <limit effort="100.0000" lower="-3.1415926536" upper="3.1415926536" velocity="3.0000" />
        <origin xyz="0 0 0" rpy="0 0 0" />
    </joint>
    <joint name="joint_LeftHandThumb3_Y" type="revolute">
        <parent link="link_LeftHandThumb3_P" />
        <child link="link_LeftHandThumb3_Y" />
        <axis xyz="0 0 1" />
        <limit effort="100.0000" lower="-3.1415926536" upper="3.1415926536" velocity="3.0000" />
        <origin xyz="0 0 0" rpy="0 0 0" />
    </joint>
    <joint name="joint_LeftInHandIndex_R" type="revolute">
        <parent link="link_LeftHand_Y" />
        <child link="link_LeftInHandIndex_R" />
        <axis xyz="1 0 0" />
        <limit effort="100.0000" lower="-3.1415926536" upper="3.1415926536" velocity="3.0000" />
        <origin rpy="0 0 0" xyz="0.004337 0.011103 -0.038311" />
    </joint>
    <joint name="joint_LeftInHandIndex_P" type="revolute">
        <parent link="link_LeftInHandIndex_R" />
        <child link="link_LeftInHandIndex_P" />
        <axis xyz="0 1 0" />
        <limit effort="100.0000" lower="-3.1415926536" upper="3.1415926536" velocity="3.0000" />
        <origin xyz="0 0 0" rpy="0 0 0" />
    </joint>
    <joint name="joint_LeftInHandIndex_Y" type="revolute">
        <parent link="link_LeftInHandIndex_P" />
        <child link="link_LeftInHandIndex_Y" />
        <axis xyz="0 0 1" />
        <limit effort="100.0000" lower="-3.1415926536" upper="3.1415926536" velocity="3.0000" />
        <origin xyz="0 0 0" rpy="0 0 0" />
    </joint>
    <joint name="joint_LeftHandIndex1_R" type="revolute">
        <parent link="link_LeftInHandIndex_Y" />
        <child link="link_LeftHandIndex1_R" />
        <axis xyz="1 0 0" />
        <limit effort="100.0000" lower="-3.1415926536" upper="3.1415926536" velocity="3.0000" />
        <origin rpy="0 0 0" xyz="0.0 -0.0 -0.055856" />
    </joint>
    <joint name="joint_LeftHandIndex1_P" type="revolute">
        <parent link="link_LeftHandIndex1_R" />
        <child link="link_LeftHandIndex1_P" />
        <axis xyz="0 1 0" />
        <limit effort="100.0000" lower="-3.1415926536" upper="3.1415926536" velocity="3.0000" />
        <origin xyz="0 0 0" rpy="0 0 0" />
    </joint>
    <joint name="joint_LeftHandIndex1_Y" type="revolute">
        <parent link="link_LeftHandIndex1_P" />
        <child link="link_LeftHandIndex1_Y" />
        <axis xyz="0 0 1" />
        <limit effort="100.0000" lower="-3.1415926536" upper="3.1415926536" velocity="3.0000" />
        <origin xyz="0 0 0" rpy="0 0 0" />
    </joint>
    <joint name="joint_LeftHandIndex2_R" type="revolute">
        <parent link="link_LeftHandIndex1_Y" />
        <child link="link_LeftHandIndex2_R" />
        <axis xyz="1 0 0" />
        <limit effort="100.0000" lower="-3.1415926536" upper="3.1415926536" velocity="3.0000" />
        <origin rpy="0.0 0.0 0.0" xyz="0.0 -0.0 -0.038060" />
    </joint>
    <joint name="joint_LeftHandIndex2_P" type="revolute">
        <parent link="link_LeftHandIndex2_R" />
        <child link="link_LeftHandIndex2_P" />
        <axis xyz="0 1 0" />
        <limit effort="100.0000" lower="-3.1415926536" upper="3.1415926536" velocity="3.0000" />
        <origin xyz="0 0 0" rpy="0 0 0" />
    </joint>
    <joint name="joint_LeftHandIndex2_Y" type="revolute">
        <parent link="link_LeftHandIndex2_P" />
        <child link="link_LeftHandIndex2_Y" />
        <axis xyz="0 0 1" />
        <limit effort="100.0000" lower="-3.1415926536" upper="3.1415926536" velocity="3.0000" />
        <origin xyz="0 0 0" rpy="0 0 0" />
    </joint>
    <joint name="joint_LeftHandIndex3_R" type="revolute">
        <parent link="link_LeftHandIndex2_Y" />
        <child link="link_LeftHandIndex3_R" />
        <axis xyz="1 0 0" />
        <limit effort="100.0000" lower="-3.1415926536" upper="3.1415926536" velocity="3.0000" />
        <origin rpy="0.0 0.0 -0.0" xyz="0.0 -0.0 -0.021580" />
    </joint>
    <joint name="joint_LeftHandIndex3_P" type="revolute">
        <parent link="link_LeftHandIndex3_R" />
        <child link="link_LeftHandIndex3_P" />
        <axis xyz="0 1 0" />
        <limit effort="100.0000" lower="-3.1415926536" upper="3.1415926536" velocity="3.0000" />
        <origin xyz="0 0 0" rpy="0 0 0" />
    </joint>
    <joint name="joint_LeftHandIndex3_Y" type="revolute">
        <parent link="link_LeftHandIndex3_P" />
        <child link="link_LeftHandIndex3_Y" />
        <axis xyz="0 0 1" />
        <limit effort="100.0000" lower="-3.1415926536" upper="3.1415926536" velocity="3.0000" />
        <origin xyz="0 0 0" rpy="0 0 0" />
    </joint>
    <joint name="joint_LeftInHandMiddle_R" type="revolute">
        <parent link="link_LeftHand_Y" />
        <child link="link_LeftInHandMiddle_R" />
        <axis xyz="1 0 0" />
        <limit effort="100.0000" lower="-3.1415926536" upper="3.1415926536" velocity="3.0000" />
        <origin rpy="0 0 0" xyz="0.001414 -0.001419 -0.036789" />
    </joint>
    <joint name="joint_LeftInHandMiddle_P" type="revolute">
        <parent link="link_LeftInHandMiddle_R" />
        <child link="link_LeftInHandMiddle_P" />
        <axis xyz="0 1 0" />
        <limit effort="100.0000" lower="-3.1415926536" upper="3.1415926536" velocity="3.0000" />
        <origin xyz="0 0 0" rpy="0 0 0" />
    </joint>
    <joint name="joint_LeftInHandMiddle_Y" type="revolute">
        <parent link="link_LeftInHandMiddle_P" />
        <child link="link_LeftInHandMiddle_Y" />
        <axis xyz="0 0 1" />
        <limit effort="100.0000" lower="-3.1415926536" upper="3.1415926536" velocity="3.0000" />
        <origin xyz="0 0 0" rpy="0 0 0" />
    </joint>
    <joint name="joint_LeftHandMiddle1_R" type="revolute">
        <parent link="link_LeftInHandMiddle_Y" />
        <child link="link_LeftHandMiddle1_R" />
        <axis xyz="1 0 0" />
        <limit effort="100.0000" lower="-3.1415926536" upper="3.1415926536" velocity="3.0000" />
        <origin rpy="0 0 0" xyz="0.0 0.0 -0.054517" />
    </joint>
    <joint name="joint_LeftHandMiddle1_P" type="revolute">
        <parent link="link_LeftHandMiddle1_R" />
        <child link="link_LeftHandMiddle1_P" />
        <axis xyz="0 1 0" />
        <limit effort="100.0000" lower="-3.1415926536" upper="3.1415926536" velocity="3.0000" />
        <origin xyz="0 0 0" rpy="0 0 0" />
    </joint>
    <joint name="joint_LeftHandMiddle1_Y" type="revolute">
        <parent link="link_LeftHandMiddle1_P" />
        <child link="link_LeftHandMiddle1_Y" />
        <axis xyz="0 0 1" />
        <limit effort="100.0000" lower="-3.1415926536" upper="3.1415926536" velocity="3.0000" />
        <origin xyz="0 0 0" rpy="0 0 0" />
    </joint>
    <joint name="joint_LeftHandMiddle2_R" type="revolute">
        <parent link="link_LeftHandMiddle1_Y" />
        <child link="link_LeftHandMiddle2_R" />
        <axis xyz="1 0 0" />
        <limit effort="100.0000" lower="-3.1415926536" upper="3.1415926536" velocity="3.0000" />
        <origin rpy="0.0 0.0 -0.0" xyz="0.0 -0.0 -0.041530" />
    </joint>
    <joint name="joint_LeftHandMiddle2_P" type="revolute">
        <parent link="link_LeftHandMiddle2_R" />
        <child link="link_LeftHandMiddle2_P" />
        <axis xyz="0 1 0" />
        <limit effort="100.0000" lower="-3.1415926536" upper="3.1415926536" velocity="3.0000" />
        <origin xyz="0 0 0" rpy="0 0 0" />
    </joint>
    <joint name="joint_LeftHandMiddle2_Y" type="revolute">
        <parent link="link_LeftHandMiddle2_P" />
        <child link="link_LeftHandMiddle2_Y" />
        <axis xyz="0 0 1" />
        <limit effort="100.0000" lower="-3.1415926536" upper="3.1415926536" velocity="3.0000" />
        <origin xyz="0 0 0" rpy="0 0 0" />
    </joint>
    <joint name="joint_LeftHandMiddle3_R" type="revolute">
        <parent link="link_LeftHandMiddle2_Y" />
        <child link="link_LeftHandMiddle3_R" />
        <axis xyz="1 0 0" />
        <limit effort="100.0000" lower="-3.1415926536" upper="3.1415926536" velocity="3.0000" />
        <origin rpy="0.0 0.0 -0.0" xyz="0.0 -0.0 -0.026030" />
    </joint>
    <joint name="joint_LeftHandMiddle3_P" type="revolute">
        <parent link="link_LeftHandMiddle3_R" />
        <child link="link_LeftHandMiddle3_P" />
        <axis xyz="0 1 0" />
        <limit effort="100.0000" lower="-3.1415926536" upper="3.1415926536" velocity="3.0000" />
        <origin xyz="0 0 0" rpy="0 0 0" />
    </joint>
    <joint name="joint_LeftHandMiddle3_Y" type="revolute">
        <parent link="link_LeftHandMiddle3_P" />
        <child link="link_LeftHandMiddle3_Y" />
        <axis xyz="0 0 1" />
        <limit effort="100.0000" lower="-3.1415926536" upper="3.1415926536" velocity="3.0000" />
        <origin xyz="0 0 0" rpy="0 0 0" />
    </joint>
    <joint name="joint_LeftInHandRing_R" type="revolute">
        <parent link="link_LeftHand_Y" />
        <child link="link_LeftInHandRing_R" />
        <axis xyz="1 0 0" />
        <limit effort="100.0000" lower="-3.1415926536" upper="3.1415926536" velocity="3.0000" />
        <origin rpy="0 0 0" xyz="-0.000343 -0.010250 -0.034368" />
    </joint>
    <joint name="joint_LeftInHandRing_P" type="revolute">
        <parent link="link_LeftInHandRing_R" />
        <child link="link_LeftInHandRing_P" />
        <axis xyz="0 1 0" />
        <limit effort="100.0000" lower="-3.1415926536" upper="3.1415926536" velocity="3.0000" />
        <origin xyz="0 0 0" rpy="0 0 0" />
    </joint>
    <joint name="joint_LeftInHandRing_Y" type="revolute">
        <parent link="link_LeftInHandRing_P" />
        <child link="link_LeftInHandRing_Y" />
        <axis xyz="0 0 1" />
        <limit effort="100.0000" lower="-3.1415926536" upper="3.1415926536" velocity="3.0000" />
        <origin xyz="0 0 0" rpy="0 0 0" />
    </joint>
    <joint name="joint_LeftHandRing1_R" type="revolute">
        <parent link="link_LeftInHandRing_Y" />
        <child link="link_LeftHandRing1_R" />
        <axis xyz="1 0 0" />
        <limit effort="100.0000" lower="-3.1415926536" upper="3.1415926536" velocity="3.0000" />
        <origin rpy="0 0 0" xyz="0.0 0.0 -0.048991" />
    </joint>
    <joint name="joint_LeftHandRing1_P" type="revolute">
        <parent link="link_LeftHandRing1_R" />
        <child link="link_LeftHandRing1_P" />
        <axis xyz="0 1 0" />
        <limit effort="100.0000" lower="-3.1415926536" upper="3.1415926536" velocity="3.0000" />
        <origin xyz="0 0 0" rpy="0 0 0" />
    </joint>
    <joint name="joint_LeftHandRing1_Y" type="revolute">
        <parent link="link_LeftHandRing1_P" />
        <child link="link_LeftHandRing1_Y" />
        <axis xyz="0 0 1" />
        <limit effort="100.0000" lower="-3.1415926536" upper="3.1415926536" velocity="3.0000" />
        <origin xyz="0 0 0" rpy="0 0 0" />
    </joint>
    <joint name="joint_LeftHandRing2_R" type="revolute">
        <parent link="link_LeftHandRing1_Y" />
        <child link="link_LeftHandRing2_R" />
        <axis xyz="1 0 0" />
        <limit effort="100.0000" lower="-3.1415926536" upper="3.1415926536" velocity="3.0000" />
        <origin rpy="0.0 0.0 -0.0" xyz="0.0 -0.0 -0.036190" />
    </joint>
    <joint name="joint_LeftHandRing2_P" type="revolute">
        <parent link="link_LeftHandRing2_R" />
        <child link="link_LeftHandRing2_P" />
        <axis xyz="0 1 0" />
        <limit effort="100.0000" lower="-3.1415926536" upper="3.1415926536" velocity="3.0000" />
        <origin xyz="0 0 0" rpy="0 0 0" />
    </joint>
    <joint name="joint_LeftHandRing2_Y" type="revolute">
        <parent link="link_LeftHandRing2_P" />
        <child link="link_LeftHandRing2_Y" />
        <axis xyz="0 0 1" />
        <limit effort="100.0000" lower="-3.1415926536" upper="3.1415926536" velocity="3.0000" />
        <origin xyz="0 0 0" rpy="0 0 0" />
    </joint>
    <joint name="joint_LeftHandRing3_R" type="revolute">
        <parent link="link_LeftHandRing2_Y" />
        <child link="link_LeftHandRing3_R" />
        <axis xyz="1 0 0" />
        <limit effort="100.0000" lower="-3.1415926536" upper="3.1415926536" velocity="3.0000" />
        <origin rpy="0.0 0.0 -0.0" xyz="0.0 -0.0 -0.025110" />
    </joint>
    <joint name="joint_LeftHandRing3_P" type="revolute">
        <parent link="link_LeftHandRing3_R" />
        <child link="link_LeftHandRing3_P" />
        <axis xyz="0 1 0" />
        <limit effort="100.0000" lower="-3.1415926536" upper="3.1415926536" velocity="3.0000" />
        <origin xyz="0 0 0" rpy="0 0 0" />
    </joint>
    <joint name="joint_LeftHandRing3_Y" type="revolute">
        <parent link="link_LeftHandRing3_P" />
        <child link="link_LeftHandRing3_Y" />
        <axis xyz="0 0 1" />
        <limit effort="100.0000" lower="-3.1415926536" upper="3.1415926536" velocity="3.0000" />
        <origin xyz="0 0 0" rpy="0 0 0" />
    </joint>
    <joint name="joint_LeftInHandPinky_R" type="revolute">
        <parent link="link_LeftHand_Y" />
        <child link="link_LeftInHandPinky_R" />
        <axis xyz="1 0 0" />
        <limit effort="100.0000" lower="-3.1415926536" upper="3.1415926536" velocity="3.0000" />
        <origin rpy="0 0 0" xyz="-0.003119 -0.020281 -0.029462" />
    </joint>
    <joint name="joint_LeftInHandPinky_P" type="revolute">
        <parent link="link_LeftInHandPinky_R" />
        <child link="link_LeftInHandPinky_P" />
        <axis xyz="0 1 0" />
        <limit effort="100.0000" lower="-3.1415926536" upper="3.1415926536" velocity="3.0000" />
        <origin xyz="0 0 0" rpy="0 0 0" />
    </joint>
    <joint name="joint_LeftInHandPinky_Y" type="revolute">
        <parent link="link_LeftInHandPinky_P" />
        <child link="link_LeftInHandPinky_Y" />
        <axis xyz="0 0 1" />
        <limit effort="100.0000" lower="-3.1415926536" upper="3.1415926536" velocity="3.0000" />
        <origin xyz="0 0 0" rpy="0 0 0" />
    </joint>
    <joint name="joint_LeftHandPinky1_R" type="revolute">
        <parent link="link_LeftInHandPinky_Y" />
        <child link="link_LeftHandPinky1_R" />
        <axis xyz="1 0 0" />
        <limit effort="100.0000" lower="-3.1415926536" upper="3.1415926536" velocity="3.0000" />
        <origin rpy="0 0 0" xyz="0.0 0.0 -0.045026" />
    </joint>
    <joint name="joint_LeftHandPinky1_P" type="revolute">
        <parent link="link_LeftHandPinky1_R" />
        <child link="link_LeftHandPinky1_P" />
        <axis xyz="0 1 0" />
        <limit effort="100.0000" lower="-3.1415926536" upper="3.1415926536" velocity="3.0000" />
        <origin xyz="0 0 0" rpy="0 0 0" />
    </joint>
    <joint name="joint_LeftHandPinky1_Y" type="revolute">
        <parent link="link_LeftHandPinky1_P" />
        <child link="link_LeftHandPinky1_Y" />
        <axis xyz="0 0 1" />
        <limit effort="100.0000" lower="-3.1415926536" upper="3.1415926536" velocity="3.0000" />
        <origin xyz="0 0 0" rpy="0 0 0" />
    </joint>
    <joint name="joint_LeftHandPinky2_R" type="revolute">
        <parent link="link_LeftHandPinky1_Y" />
        <child link="link_LeftHandPinky2_R" />
        <axis xyz="1 0 0" />
        <limit effort="100.0000" lower="-3.1415926536" upper="3.1415926536" velocity="3.0000" />
        <origin rpy="0.0 0.0 0.0" xyz="0.0 -0.0 -0.028980" />
    </joint>
    <joint name="joint_LeftHandPinky2_P" type="revolute">
        <parent link="link_LeftHandPinky2_R" />
        <child link="link_LeftHandPinky2_P" />
        <axis xyz="0 1 0" />
        <limit effort="100.0000" lower="-3.1415926536" upper="3.1415926536" velocity="3.0000" />
        <origin xyz="0 0 0" rpy="0 0 0" />
    </joint>
    <joint name="joint_LeftHandPinky2_Y" type="revolute">
        <parent link="link_LeftHandPinky2_P" />
        <child link="link_LeftHandPinky2_Y" />
        <axis xyz="0 0 1" />
        <limit effort="100.0000" lower="-3.1415926536" upper="3.1415926536" velocity="3.0000" />
        <origin xyz="0 0 0" rpy="0 0 0" />
    </joint>
    <joint name="joint_LeftHandPinky3_R" type="revolute">
        <parent link="link_LeftHandPinky2_Y" />
        <child link="link_LeftHandPinky3_R" />
        <axis xyz="1 0 0" />
        <limit effort="100.0000" lower="-3.1415926536" upper="3.1415926536" velocity="3.0000" />
        <origin rpy="0.0 0.0 -0.0" xyz="0.0 -0.0 -0.018310" />
    </joint>
    <joint name="joint_LeftHandPinky3_P" type="revolute">
        <parent link="link_LeftHandPinky3_R" />
        <child link="link_LeftHandPinky3_P" />
        <axis xyz="0 1 0" />
        <limit effort="100.0000" lower="-3.1415926536" upper="3.1415926536" velocity="3.0000" />
        <origin xyz="0 0 0" rpy="0 0 0" />
    </joint>
    <joint name="joint_LeftHandPinky3_Y" type="revolute">
        <parent link="link_LeftHandPinky3_P" />
        <child link="link_LeftHandPinky3_Y" />
        <axis xyz="0 0 1" />
        <limit effort="100.0000" lower="-3.1415926536" upper="3.1415926536" velocity="3.0000" />
        <origin xyz="0 0 0" rpy="0 0 0" />
    </joint>
    
    <joint name="joint_LeftSkeletonBase" type="fixed">
        <parent link="link_LeftHand_Y" />
        <child link="link_LeftSkeletonBase" />
        <axis xyz="0 1 0" />
        <limit effort="100.0000" lower="-3.1415926536" upper="3.1415926536" velocity="3.0000" />
        <origin xyz="-0.02 0 -0.1" rpy="-1.5707963268 0 1.5707963268" />
    </joint>
    <joint name="joint_LeftMarker" type="fixed">
        <origin xyz="-0.0097906 -0.039958 0.0172" rpy="0 0 1.6907" />
    <parent link="link_LeftSkeletonBase" />
    <child link="link_LeftMarker" />
    <axis xyz="0 0 0" />
  </joint>
    <joint name="joint_LeftSkeletonThumb1" type="revolute">
        <origin xyz="0.049792 -0.067851 -0.030963" rpy="0 1.3521 -0.56972" />
    <parent link="link_LeftSkeletonBase" />
    <child link="link_LeftSkeletonThumb1" />
    <axis xyz="0 0 1" />
    <limit lower="-3.14" upper="3.14" effort="0" velocity="0" />
  </joint>
    <joint name="joint_LeftSkeletonThumb2" type="revolute">
        <origin xyz="0.0026 0.0077279 0.013728" rpy="-0.7854 0 0" />
    <parent link="link_LeftSkeletonThumb1" />
    <child link="link_LeftSkeletonThumb2" />
    <axis xyz="1 0 0" />
    <limit lower="-3.14" upper="3.14" effort="0" velocity="0" />
  </joint>
    <joint name="joint_LeftSkeletonThumb3" type="revolute">
        <origin xyz="0 0.035701 0.054318" rpy="-0.81433 0 0" />
    <parent link="link_LeftSkeletonThumb2" />
    <child link="link_LeftSkeletonThumb3" />
    <axis xyz="1 0 0" />
    <limit lower="-3.14" upper="3.14" effort="0" velocity="0" />
  </joint>
    <joint name="joint_LeftSkeletonThumb4" type="revolute">
        <origin xyz="0 0.031696 0.067973" rpy="1.7453 0 0" />
    <parent link="link_LeftSkeletonThumb3" />
    <child link="link_LeftSkeletonThumb4" />
    <axis xyz="1 0 0" />
    <limit lower="-3.14" upper="3.14" effort="0" velocity="0" />
  </joint>
    <joint name="joint_LeftSkeletonIndex1" type="revolute">
        <origin xyz="0.022514 0.0027125 -2.2851E-05" rpy="0 0.2618 0.1199" />
    <parent link="link_LeftSkeletonBase" />
    <child link="link_LeftSkeletonIndex1" />
    <axis xyz="0 0 1" />
    <limit lower="-3.14" upper="3.14" effort="0" velocity="0" />
  </joint>
    <joint name="joint_LeftSkeletonIndex2" type="revolute">
        <origin xyz="0.0026 0.0077279 0.013728" rpy="-0.7854 0 0" />
    <parent link="link_LeftSkeletonIndex1" />
    <child link="link_LeftSkeletonIndex2" />
    <axis xyz="1 0 0" />
    <limit lower="-3.14" upper="3.14" effort="0" velocity="0" />
  </joint>
    <joint name="joint_LeftSkeletonIndex3" type="revolute">
        <origin xyz="0 0.043889 0.062046" rpy="-0.81433 0 0" />
    <parent link="link_LeftSkeletonIndex2" />
    <child link="link_LeftSkeletonIndex3" />
    <axis xyz="1 0 0" />
    <limit lower="-3.14" upper="3.14" effort="0" velocity="0" />
  </joint>
    <joint name="joint_LeftSkeletonIndex4" type="revolute">
        <origin xyz="0 0.031696 0.067973" rpy="1.7453 0 0" />
    <parent link="link_LeftSkeletonIndex3" />
    <child link="link_LeftSkeletonIndex4" />
    <axis xyz="1 0 0" />
    <limit lower="-3.14" upper="3.14" effort="0" velocity="0" />
  </joint>
    <joint name="joint_LeftSkeletonMiddle1" type="revolute">
        <origin xyz="0 0 0.003" rpy="0 0 0.1199" />
    <parent link="link_LeftSkeletonBase" />
    <child link="link_LeftSkeletonMiddle1" />
    <axis xyz="0 0 1" />
    <limit lower="-3.14" upper="3.14" effort="0" velocity="0" />
  </joint>
    <joint name="joint_LeftSkeletonMiddle2" type="revolute">
        <origin xyz="0.0026 0.0077279 0.013728" rpy="-0.7854 0 0" />
    <parent link="link_LeftSkeletonMiddle1" />
    <child link="link_LeftSkeletonMiddle2" />
    <axis xyz="1 0 0" />
    <limit lower="-3.14" upper="3.14" effort="0" velocity="0" />
  </joint>
    <joint name="joint_LeftSkeletonMiddle3" type="revolute">
        <origin xyz="0 0.043889 0.062046" rpy="-0.81433 0 0" />
    <parent link="link_LeftSkeletonMiddle2" />
    <child link="link_LeftSkeletonMiddle3" />
    <axis xyz="1 0 0" />
    <limit lower="-3.14" upper="3.14" effort="0" velocity="0" />
  </joint>
    <joint name="joint_LeftSkeletonMiddle4" type="revolute">
        <origin xyz="0 0.031696 0.067973" rpy="1.7453 0 0" />
    <parent link="link_LeftSkeletonMiddle3" />
    <child link="link_LeftSkeletonMiddle4" />
    <axis xyz="1 0 0" />
    <limit lower="-3.14" upper="3.14" effort="0" velocity="0" />
  </joint>
    <joint name="joint_LeftSkeletonRing1" type="revolute">
        <origin xyz="-0.020849 -0.002512 0.003" rpy="0 0 0.1199" />
    <parent link="link_LeftSkeletonBase" />
    <child link="link_LeftSkeletonRing1" />
    <axis xyz="0 0 1" />
    <limit lower="-3.14" upper="3.14" effort="0" velocity="0" />
  </joint>
    <joint name="joint_LeftSkeletonRing2" type="revolute">
        <origin xyz="0.0026 0.0077279 0.013728" rpy="-0.7854 0 0" />
    <parent link="link_LeftSkeletonRing1" />
    <child link="link_LeftSkeletonRing2" />
    <axis xyz="1 0 0" />
    <limit lower="-3.14" upper="3.14" effort="0" velocity="0" />
  </joint>
    <joint name="joint_LeftSkeletonRing3" type="revolute">
        <origin xyz="0 0.043889 0.062046" rpy="-0.81433 0 0" />
    <parent link="link_LeftSkeletonRing2" />
    <child link="link_LeftSkeletonRing3" />
    <axis xyz="1 0 0" />
    <limit lower="-3.14" upper="3.14" effort="0" velocity="0" />
  </joint>
    <joint name="joint_LeftSkeletonRing4" type="revolute">
        <origin xyz="0 0.031696 0.067973" rpy="1.7453 0 0" />
    <parent link="link_LeftSkeletonRing3" />
    <child link="link_LeftSkeletonRing4" />
    <axis xyz="1 0 0" />
    <limit lower="-3.14" upper="3.14" effort="0" velocity="0" />
  </joint>
    <joint name="joint_LeftSkeletonPinky1" type="revolute">
        <origin xyz="-0.043444 -0.0052343 0.00062026" rpy="0 -0.17453 0.1199" />
    <parent link="link_LeftSkeletonBase" />
    <child link="link_LeftSkeletonPinky1" />
    <axis xyz="0 0 1" />
    <limit lower="-3.14" upper="3.14" effort="0" velocity="0" />
  </joint>
    <joint name="joint_LeftSkeletonPinky2" type="revolute">
        <origin xyz="0.0026 0.0077279 0.013728" rpy="-0.7854 0 0" />
    <parent link="link_LeftSkeletonPinky1" />
    <child link="link_LeftSkeletonPinky2" />
    <axis xyz="1 0 0" />
    <limit lower="-3.14" upper="3.14" effort="0" velocity="0" />
  </joint>
    <joint name="joint_LeftSkeletonPinky3" type="revolute">
        <origin xyz="0 0.043889 0.062046" rpy="-0.81433 0 0" />
    <parent link="link_LeftSkeletonPinky2" />
    <child link="link_LeftSkeletonPinky3" />
    <axis xyz="1 0 0" />
    <limit lower="-3.14" upper="3.14" effort="0" velocity="0" />
  </joint>
    <joint name="joint_LeftSkeletonPinky4" type="revolute">
        <origin xyz="0 0.031696 0.067973" rpy="1.7453 0 0" />
    <parent link="link_LeftSkeletonPinky3" />
    <child link="link_LeftSkeletonPinky4" />
    <axis xyz="1 0 0" />
    <limit lower="-3.14" upper="3.14" effort="0" velocity="0" />
  </joint>
  <link name="right_thumb_tip" />
  <link name="right_index_tip" />
  <link name="right_middle_tip" />
  <link name="right_ring_tip" />
  <link name="right_pinky_tip" />
  <link name="left_thumb_tip" />
  <link name="left_index_tip" />
  <link name="left_middle_tip" />
  <link name="left_ring_tip" />
  <link name="left_pinky_tip" />
  <joint name="right_thumb_tip_joint" type="fixed">
    <origin xyz="0 0.015 -0.0265" rpy="0 0 0"/>
    <parent link="link_RightSkeletonThumb4"/>
    <child link="right_thumb_tip"/>
	</joint>
  <joint name="right_index_tip_joint" type="fixed">
    <origin xyz="0 0.015 -0.0265" rpy="0 0 0"/>
    <parent link="link_RightSkeletonIndex4"/>
    <child link="right_index_tip"/>
	</joint>
	<joint name="right_middle_tip_joint" type="fixed">
    <origin xyz="0 0.015 -0.0265" rpy="0 0 0"/>
    <parent link="link_RightSkeletonMiddle4"/>
    <child link="right_middle_tip"/>
	</joint>
	<joint name="right_ring_tip_joint" type="fixed">
    <origin xyz="0 0.015 -0.0265" rpy="0 0 0"/>
    <parent link="link_RightSkeletonRing4"/>
    <child link="right_ring_tip"/>
	</joint>
	<joint name="right_pinky_tip_joint" type="fixed">
    <origin xyz="0 0.015 -0.0265" rpy="0 0 0"/>
    <parent link="link_RightSkeletonPinky4"/>
    <child link="right_pinky_tip"/>
	</joint>
  <joint name="left_thumb_tip_joint" type="fixed">
    <origin xyz="0 0.015 -0.0265" rpy="0 0 0"/>
    <parent link="link_LeftSkeletonThumb4"/>
    <child link="left_thumb_tip"/>
	</joint>
  <joint name="left_index_tip_joint" type="fixed">
    <origin xyz="0 0.015 -0.0265" rpy="0 0 0"/>
    <parent link="link_LeftSkeletonIndex4"/>
    <child link="left_index_tip"/>
	</joint>
	<joint name="left_middle_tip_joint" type="fixed">
    <origin xyz="0 0.015 -0.0265" rpy="0 0 0"/>
    <parent link="link_LeftSkeletonMiddle4"/>
    <child link="left_middle_tip"/>
	</joint>
	<joint name="left_ring_tip_joint" type="fixed">
    <origin xyz="0 0.015 -0.0265" rpy="0 0 0"/>
    <parent link="link_LeftSkeletonRing4"/>
    <child link="left_ring_tip"/>
	</joint>
	<joint name="left_pinky_tip_joint" type="fixed">
    <origin xyz="0 0.015 -0.0265" rpy="0 0 0"/>
    <parent link="link_LeftSkeletonPinky4"/>
    <child link="left_pinky_tip"/>
	</joint>
	<link name="right_hand" />
	<link name="left_hand" />
	<joint name="joint_right_hand" type="fixed">
		<origin xyz="0.0097906 -0.039958 -0.03" rpy="0 0 0" />
    <parent link="link_RightSkeletonBase" />
    <child link="right_hand" />
  </joint>
	<joint name="joint_left_hand" type="fixed">
		<origin xyz="-0.0097906 -0.039958 -0.03" rpy="0 0 0" />
    <parent link="link_LeftSkeletonBase" />
    <child link="left_hand" />
  </joint>
</robot>
